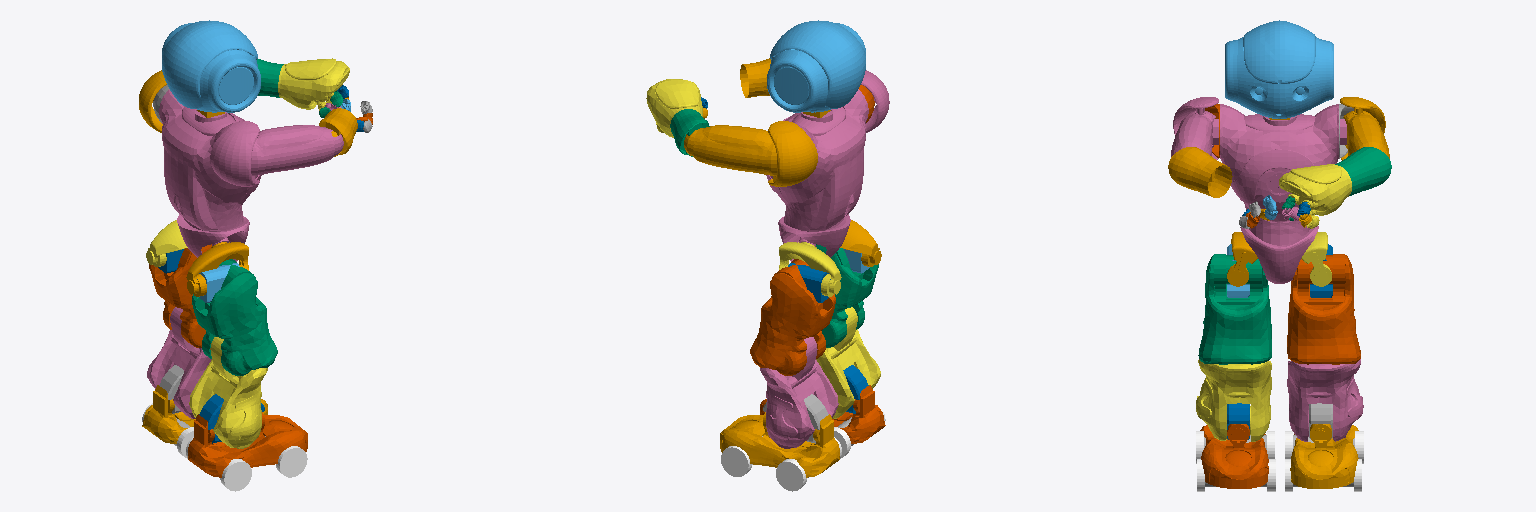
--- What the picture shows (computed from the rendered views, not written in the file) ---
Views: 3 orthographic renders of the robot side by side, from view 1: azimuth 30°, elevation 25°; view 2: azimuth 150°, elevation 25°; view 3: azimuth 270°, elevation 25°.
Model nao with 95 links and 94 joints (26 revolute, 8 continuous, 60 fixed), rooted at base_link, posed joints at zero except 2 at the middle of their limits (LElbowRoll = -0.7898, RElbowRoll = 0.7898).
Links seen in each view (by area): view 1: torso, Head, RBicep, RThigh, RTibia, r_ankle, l_wrist, LTibia, LThigh, l_ankle, RPelvis, LPelvis (+7 smaller); view 2: torso, Head, LBicep, LThigh, LTibia, l_ankle, RTibia, RThigh, l_wrist, r_ankle, LPelvis, RPelvis (+7 smaller); view 3: torso, Head, LThigh, RThigh, RTibia, LTibia, r_ankle, l_ankle, l_wrist, RForeArm, LBicep, RBicep (+3 smaller).
Boxes of the visible links, x1,y1,x2,y2 form: torso: (159, 89, 261, 261); Head: (162, 20, 260, 112); RBicep: (210, 121, 343, 186); RThigh: (192, 259, 277, 375); RTibia: (189, 337, 267, 448); r_ankle: (188, 412, 307, 477); l_wrist: (278, 58, 349, 109); LTibia: (147, 307, 211, 418); LThigh: (149, 244, 211, 347); l_ankle: (142, 385, 267, 443); RPelvis: (186, 242, 248, 296); LPelvis: (146, 220, 187, 266); torso: (766, 89, 868, 261); Head: (767, 20, 865, 112); LBicep: (684, 121, 817, 186); LThigh: (750, 259, 835, 375); LTibia: (760, 337, 838, 448); l_ankle: (720, 412, 839, 477); RTibia: (816, 307, 880, 418); RThigh: (816, 244, 878, 347); l_wrist: (646, 79, 702, 137); r_ankle: (760, 385, 885, 443); LPelvis: (779, 242, 841, 296); RPelvis: (840, 220, 881, 266); torso: (1212, 104, 1346, 283); Head: (1225, 20, 1333, 118); LThigh: (1287, 254, 1360, 364); RThigh: (1198, 254, 1271, 364); RTibia: (1196, 359, 1271, 441); LTibia: (1287, 359, 1363, 441); r_ankle: (1200, 424, 1268, 488); l_ankle: (1290, 424, 1358, 488); l_wrist: (1279, 164, 1351, 215); RForeArm: (1168, 147, 1232, 197); LBicep: (1340, 97, 1389, 160); RBicep: (1171, 97, 1218, 159).
Bounding box of the posed robot: 0.2792 × 0.2719 × 0.594 m (x, y, z).
38 mesh visuals loaded from 39 distinct referenced files (38 Collada DAE); not drawn: 1 (reference not matched to a file when rendering).

URDF robot description (nao):
<?xml version="1.0" encoding="utf-8" ?>
<!-- =================================================================================== -->
<!-- |    This document was autogenerated by xacro from nao_robot.xacro                | -->
<!-- |    EDITING THIS FILE BY HAND IS NOT RECOMMENDED                                 | -->
<!-- =================================================================================== -->
<!--******************************************************************
 ****** File automatically generated by generate_urdf.py script ******
 *********************************************************************-->
<robot name="nao">
    <joint name="HeadYaw" type="revolute">
        <parent link="torso" />
        <child link="Neck" />
        <origin rpy="0 0 0" xyz="0 0 0.1265" />
        <axis xyz="0 0 1.0" />
        <limit effort="1.547" lower="-2.08567" upper="2.08567" velocity="8.26797" />
    </joint>
    <link name="Neck">
        
<inertial>
            <mass value="0.06442" />
            <inertia ixx="2.65584e-05" ixy="1.57e-09" ixz="0" iyy="2.75654e-05" iyz="-5.295e-08" izz="5.53372e-06" />
            <origin rpy="0 0 0" xyz="-1e-05 0 -0.02742" />
        </inertial>

        <visual>
            <geometry>
                <mesh filename="package://nao_description/nao_meshes/meshes/V40/HeadYaw.dae" scale="0.1 0.1 0.1" />
            </geometry>
            <origin rpy="0 0 0" xyz="0 0 0" />
        </visual>
        <collision>
            <geometry>
                <mesh filename="package://nao_description/nao_meshes/meshes/V40/HeadYaw_0.10.stl" scale="0.1 0.1 0.1" />
            </geometry>
            <origin rpy="0 0 0" xyz="0 0 0" />
        </collision>
    </link>
    <joint name="HeadPitch" type="revolute">
        <parent link="Neck" />
        <child link="Head" />
        <origin rpy="0 0 0" xyz="0 0 0" />
        <axis xyz="0 1.0 0" />
        <limit effort="1.532" lower="-0.671952" upper="0.514872" velocity="7.19407" />
    </joint>
    <link name="Head">
        
<inertial>
            <mass value="0.60533" />
            <inertia ixx="0.000957766" ixy="8.78814e-06" ixz="5.33702e-06" iyy="0.000816836" iyz="-2.99579e-05" izz="0.000984976" />
            <origin rpy="0 0 0" xyz="-0.00112 0 0.05258" />
        </inertial>

        <visual>
            <geometry>
                <mesh filename="package://nao_description/nao_meshes/meshes/V40/HeadPitch.dae" scale="0.1 0.1 0.1" />
            </geometry>
            <origin rpy="0 0 0" xyz="0 0 0" />
        </visual>
        <collision>
            <geometry>
                <mesh filename="package://nao_description/nao_meshes/meshes/V40/HeadPitch_0.10.stl" scale="0.1 0.1 0.1" />
            </geometry>
            <origin rpy="0 0 0" xyz="0 0 0" />
        </collision>
    </link>
    <joint name="gaze_joint" type="fixed">
        <parent link="Head" />
        <child link="gaze" />
        <origin rpy="0 0 0" xyz="0.05871 0 0.06364" />
    </joint>
    <link name="gaze" />
    <joint name="LHipYawPitch" type="revolute">
        <parent link="torso" />
        <child link="LPelvis" />
        <origin rpy="0 0 0" xyz="0 0.05 -0.085" />
        <axis xyz="0 0.707106 -0.707106" />
        <limit effort="3.348" lower="-1.14529" upper="0.740718" velocity="4.16174" />
    </joint>
    <link name="LPelvis">
        
<inertial>
            <mass value="0.06981" />
            <inertia ixx="2.3407e-05" ixy="1.07922e-06" ixz="-1.76003e-06" iyy="4.76355e-05" iyz="2.76058e-06" izz="4.97021e-05" />
            <origin rpy="0 0 0" xyz="-0.00781 -0.01114 0.02661" />
        </inertial>

        <visual>
            <geometry>
                <mesh filename="package://nao_description/nao_meshes/meshes/V40/LHipYawPitch.dae" scale="0.1 0.1 0.1" />
            </geometry>
            <origin rpy="0 0 0" xyz="0 0 0" />
        </visual>
        <collision>
            <geometry>
                <mesh filename="package://nao_description/nao_meshes/meshes/V40/LHipYawPitch_0.10.stl" scale="0.1 0.1 0.1" />
            </geometry>
            <origin rpy="0 0 0" xyz="0 0 0" />
        </collision>
    </link>
    <joint name="LHipRoll" type="revolute">
        <parent link="LPelvis" />
        <child link="LHip" />
        <origin rpy="0 0 0" xyz="0 0 0" />
        <axis xyz="1.0 0 0" />
        <limit effort="3.348" lower="-0.379435" upper="0.79046" velocity="4.16174" />
    </joint>
    <link name="LHip">
        
<inertial>
            <mass value="0.13053" />
            <inertia ixx="2.41106e-05" ixy="-6.08684e-07" ixz="6.33119e-06" iyy="6.34892e-05" iyz="-1.99137e-07" izz="5.67694e-05" />
            <origin rpy="0 0 0" xyz="-0.01549 0.00029 -0.00515" />
        </inertial>

        <visual>
            <geometry>
                <mesh filename="package://nao_description/nao_meshes/meshes/V40/LHipRoll.dae" scale="0.1 0.1 0.1" />
            </geometry>
            <origin rpy="0 0 0" xyz="0 0 0" />
        </visual>
        <collision>
            <geometry>
                <mesh filename="package://nao_description/nao_meshes/meshes/V40/LHipRoll_0.10.stl" scale="0.1 0.1 0.1" />
            </geometry>
            <origin rpy="0 0 0" xyz="0 0 0" />
        </collision>
    </link>
    <joint name="LHipPitch" type="revolute">
        <parent link="LHip" />
        <child link="LThigh" />
        <origin rpy="0 0 0" xyz="0 0 0" />
        <axis xyz="0 1.0 0" />
        <limit effort="3.023" lower="-1.53589" upper="0.48398" velocity="6.40239" />
    </joint>
    <link name="LThigh">
        
<inertial>
            <mass value="0.38968" />
            <inertia ixx="0.000509844" ixy="2.11296e-06" ixz="5.64129e-05" iyy="0.000465358" iyz="-7.91029e-06" izz="0.000301098" />
            <origin rpy="0 0 0" xyz="0.00138 0.00221 -0.05373" />
        </inertial>

        <visual>
            <geometry>
                <mesh filename="package://nao_description/nao_meshes/meshes/V40/LHipPitch.dae" scale="0.1 0.1 0.1" />
            </geometry>
            <origin rpy="0 0 0" xyz="0 0 0" />
        </visual>
        <collision>
            <geometry>
                <mesh filename="package://nao_description/nao_meshes/meshes/V40/LHipPitch_0.10.stl" scale="0.1 0.1 0.1" />
            </geometry>
            <origin rpy="0 0 0" xyz="0 0 0" />
        </collision>
    </link>
    <joint name="LKneePitch" type="revolute">
        <parent link="LThigh" />
        <child link="LTibia" />
        <origin rpy="0 0 0" xyz="0 0 -0.1" />
        <axis xyz="0 1.0 0" />
        <limit effort="3.023" lower="-0.0923279" upper="2.11255" velocity="6.40239" />
    </joint>
    <link name="LTibia">
        
<inertial>
            <mass value="0.29142" />
            <inertia ixx="0.000470586" ixy="3.60392e-06" ixz="-2.86648e-05" iyy="0.000412654" iyz="7.13013e-06" izz="0.000185772" />
            <origin rpy="0 0 0" xyz="0.00453 0.00225 -0.04936" />
        </inertial>

        <visual>
            <geometry>
                <mesh filename="package://nao_description/nao_meshes/meshes/V40/LKneePitch.dae" scale="0.1 0.1 0.1" />
            </geometry>
            <origin rpy="0 0 0" xyz="0 0 0" />
        </visual>
        <collision>
            <geometry>
                <mesh filename="package://nao_description/nao_meshes/meshes/V40/LKneePitch_0.10.stl" scale="0.1 0.1 0.1" />
            </geometry>
            <origin rpy="0 0 0" xyz="0 0 0" />
        </collision>
    </link>
    <joint name="LAnklePitch" type="revolute">
        <parent link="LTibia" />
        <child link="LAnklePitch" />
        <origin rpy="0 0 0" xyz="0 0 -0.1029" />
        <axis xyz="0 1.0 0" />
        <limit effort="3.023" lower="-1.18944" upper="0.922581" velocity="6.40239" />
    </joint>
    <link name="LAnklePitch">
        
<inertial>
            <mass value="0.13416" />
            <inertia ixx="3.22034e-05" ixy="-8.83212e-09" ixz="4.27549e-06" iyy="6.7943e-05" iyz="2.84849e-07" izz="5.48269e-05" />
            <origin rpy="0 0 0" xyz="0.00045 0.00029 0.00685" />
        </inertial>

        <visual>
            <geometry>
                <mesh filename="package://nao_description/nao_meshes/meshes/V40/LAnklePitch.dae" scale="0.1 0.1 0.1" />
            </geometry>
            <origin rpy="0 0 0" xyz="0 0 0" />
        </visual>
        <collision>
            <geometry>
                <mesh filename="package://nao_description/nao_meshes/meshes/V40/LAnklePitch_0.10.stl" scale="0.1 0.1 0.1" />
            </geometry>
            <origin rpy="0 0 0" xyz="0 0 0" />
        </collision>
    </link>
    <joint name="LAnkleRoll" type="revolute">
        <parent link="LAnklePitch" />
        <child link="l_ankle" />
        <origin rpy="0 0 0" xyz="0 0 0" />
        <axis xyz="1.0 0 0" />
        <limit effort="3.348" lower="-0.397761" upper="0.768992" velocity="4.16174" />
    </joint>
    <link name="l_ankle">
        
<inertial>
            <mass value="0.16184" />
            <inertia ixx="9.78911e-05" ixy="7.88039e-06" ixz="6.1279e-06" iyy="0.000369977" iyz="1.44233e-06" izz="0.000419417" />
            <origin rpy="0 0 0" xyz="0.02542 0.0033 -0.03239" />
        </inertial>

        <visual>
            <geometry>
                <mesh filename="package://nao_description/nao_meshes/meshes/V40/LAnkleRoll.dae" scale="0.1 0.1 0.1" />
            </geometry>
            <origin rpy="0 0 0" xyz="0 0 0" />
        </visual>
        <collision>
            <geometry>
                <mesh filename="package://nao_description/nao_meshes/meshes/V40/LAnkleRoll_0.10.stl" scale="0.1 0.1 0.1" />
            </geometry>
            <origin rpy="0 0 0" xyz="0 0 0" />
        </collision>
    </link>
    <joint name="LLeg_effector_fixedjoint" type="fixed">
        <parent link="l_ankle" />
        <child link="l_sole" />
        <origin rpy="0 0 0" xyz="0 0 -0.04511" />
        <axis xyz="0 0 0" />
    </joint>
    <link name="l_sole" />
    <joint name="base_left_motor_joint" type="fixed">
        <origin xyz="-0.02 0 0" rpy="0 0 0" />
        <parent link="l_sole" />
        <child link="left_motor" />
    </joint>
    <link name="left_motor">
        
<inertial>
            <origin xyz="0.0 0 0" />
            <mass value="0.1" />
            <inertia ixx="0.001" ixy="0.0" ixz="0.0" iyy="0.001" iyz="0.0" izz="0.001" />
        </inertial>

        <visual>
            <origin xyz="0 0.005 0" rpy="1.5707 0 0" />
            <geometry>
                <cylinder radius="0.015" length="0.078" />
            </geometry>
            <material name="gray">
                <color rgba="0.75 0.75 0.75 1" />
            </material>
        </visual>
        <collision>
            <origin xyz="0 0 0" rpy="1.5707 0 0" />
            <geometry>
                <cylinder radius="0.015" length="0.078" />
            </geometry>
        </collision>
    </link>
    <joint name="left_wheel_joint_r" type="continuous">
        <origin xyz="0 -0.039 0" rpy="0 0 0" />
        <parent link="left_motor" />
        <child link="left_wheel_link_r" />
        <axis xyz="0 1 0" />
    </joint>
    <link name="left_wheel_link_r">
        
<inertial>
            <origin xyz="0 0 0" />
            <mass value="0.01" />
            <inertia ixx="0.001" ixy="0.0" ixz="0.0" iyy="0.001" iyz="0.0" izz="0.001" />
        </inertial>

        <visual>
            <origin xyz="0 0 0" rpy="1.5707 0 0" />
            <geometry>
                <cylinder radius="0.02" length="0.01" />
            </geometry>
            <material name="gray">
                <color rgba="1 1 1 0.9" />
            </material>
        </visual>
        <collision>
            <origin xyz="0 0 0" rpy="1.5707 0 0" />
            <geometry>
                <cylinder radius="0.02" length="0.01" />
            </geometry>
        </collision>
    </link>
    <joint name="left_wheel_joint_l" type="continuous">
        <origin xyz="0 0.047 0" rpy="0 0 0" />
        <parent link="left_motor" />
        <child link="left_wheel_link_l" />
        <axis xyz="0 1 0" />
    </joint>
    <link name="left_wheel_link_l">
        
<inertial>
            <origin xyz="0 0 0" />
            <mass value="0.01" />
            <inertia ixx="0.001" ixy="0.0" ixz="0.0" iyy="0.001" iyz="0.0" izz="0.001" />
        </inertial>

        <visual>
            <origin xyz="0 0 0" rpy="1.5707 0 0" />
            <geometry>
                <cylinder radius="0.02" length="0.01" />
            </geometry>
            <material name="gray">
                <color rgba="1 1 1 0.9" />
            </material>
        </visual>
        <collision>
            <origin xyz="0 0 0" rpy="1.5707 0 0" />
            <geometry>
                <cylinder radius="0.02" length="0.01" />
            </geometry>
        </collision>
    </link>

    <joint name="front_left_motor_joint" type="fixed">
        <origin xyz="0.06 0 0" rpy="0 0 0" />
        <parent link="l_sole" />
        <child link="front_left_motor" />
    </joint>
    <link name="front_left_motor">
        
<inertial>
            <origin xyz="0.0 0 0" />
            <mass value="0.1" />
            <inertia ixx="0.00001" ixy="0.0" ixz="0.0" iyy="0.00001" iyz="0.0" izz="0.00001" />
        </inertial>

        <visual>
            <origin xyz="0 0.003 0" rpy="1.5707 0 0" />
            <geometry>
                <cylinder radius="0.015" length="0.08" />
            </geometry>
            <material name="gray">
                <color rgba="0.75 0.75 0.75 1" />
            </material>
        </visual>
        <collision>
            <origin xyz="0 0 0" rpy="1.5707 0 0" />
            <geometry>
                <cylinder radius="0.015" length="0.078" />
            </geometry>
        </collision>
    </link>
    <joint name="front_left_wheel_joint_r" type="continuous">
        <origin xyz="0 -0.039 0" rpy="0 0 0" />
        <parent link="front_left_motor" />
        <child link="front_left_wheel_link_r" />
        <axis xyz="0 1 0" />
    </joint>
    <link name="front_left_wheel_link_r">
        
<inertial>
            <origin xyz="0 0 0" />
            <mass value="0.01" />
            <inertia ixx="0.001" ixy="0.0" ixz="0.0" iyy="0.001" iyz="0.0" izz="0.001" />
        </inertial>

        <visual>
            <origin xyz="0 0 0" rpy="1.5707 0 0" />
            <geometry>
                <cylinder radius="0.02" length="0.01" />
            </geometry>
            <material name="gray">
                <color rgba="1 1 1 0.9" />
            </material>
        </visual>
        <collision>
            <origin xyz="0 0 0" rpy="1.5707 0 0" />
            <geometry>
                <cylinder radius="0.02" length="0.01" />
            </geometry>
        </collision>
    </link>
    <joint name="front_left_wheel_joint_l" type="continuous">
        <origin xyz="0 0.045 0" rpy="0 0 0" />
        <parent link="front_left_motor" />
        <child link="front_left_wheel_link_l" />
        <axis xyz="0 1 0" />
    </joint>
    <link name="front_left_wheel_link_l">
        
<inertial>
            <origin xyz="0 0 0" />
            <mass value="0.01" />
            <inertia ixx="0.00001" ixy="0.0" ixz="0.0" iyy="0.00001" iyz="0.0" izz="0.00001" />
        </inertial>

        <visual>
            <origin xyz="0 0 0" rpy="1.5707 0 0" />
            <geometry>
                <cylinder radius="0.02" length="0.01" />
            </geometry>
            <material name="gray">
                <color rgba="1 1 1 0.9" />
            </material>
        </visual>
        <collision>
            <origin xyz="0 0 0" rpy="1.5707 0 0" />
            <geometry>
                <cylinder radius="0.02" length="0.01" />
            </geometry>
        </collision>
    </link>
    <joint name="RHipYawPitch" type="revolute">
        <parent link="torso" />
        <child link="RPelvis" />
        <origin rpy="0 0 0" xyz="0 -0.05 -0.085" />
        <axis xyz="0 0.707106 0.707106" />
        <limit effort="3.348" lower="-1.14529" upper="0.740718" velocity="4.16174" />
        <mimic joint="LHipYawPitch" multiplier="1.0" offset="0" />
    </joint>
    <link name="RPelvis">
        
<inertial>
            <mass value="0.06981" />
            <inertia ixx="3.18766e-05" ixy="-1.07152e-06" ixz="-1.77295e-06" iyy="5.18361e-05" iyz="-7.00664e-06" izz="5.39657e-05" />
            <origin rpy="0 0 0" xyz="-0.00781 0.01114 0.02661" />
        </inertial>

        <visual>
            <geometry>
                <mesh filename="package://nao_description/nao_meshes/meshes/V40/RHipYawPitch.dae" scale="0.1 0.1 0.1" />
            </geometry>
            <origin rpy="0 0 0" xyz="0 0 0" />
        </visual>
        <collision>
            <geometry>
                <mesh filename="package://nao_description/nao_meshes/meshes/V40/RHipYawPitch_0.10.stl" scale="0.1 0.1 0.1" />
            </geometry>
            <origin rpy="0 0 0" xyz="0 0 0" />
        </collision>
    </link>
    <joint name="RHipRoll" type="revolute">
        <parent link="RPelvis" />
        <child link="RHip" />
        <origin rpy="0 0 0" xyz="0 0 0" />
        <axis xyz="1.0 0 0" />
        <limit effort="3.348" lower="-0.79046" upper="0.379435" velocity="4.16174" />
    </joint>
    <link name="RHip">
        
<inertial>
            <mass value="0.13053" />
            <inertia ixx="2.41136e-05" ixy="5.67164e-07" ixz="6.30461e-06" iyy="6.34886e-05" iyz="1.97457e-07" izz="5.6773e-05" />
            <origin rpy="0 0 0" xyz="-0.01549 -0.00029 -0.00515" />
        </inertial>

        <visual>
            <geometry>
                <mesh filename="package://nao_description/nao_meshes/meshes/V40/RHipRoll.dae" scale="0.1 0.1 0.1" />
            </geometry>
            <origin rpy="0 0 0" xyz="0 0 0" />
        </visual>
        <collision>
            <geometry>
                <mesh filename="package://nao_description/nao_meshes/meshes/V40/RHipRoll_0.10.stl" scale="0.1 0.1 0.1" />
            </geometry>
            <origin rpy="0 0 0" xyz="0 0 0" />
        </collision>
    </link>
    <joint name="RHipPitch" type="revolute">
        <parent link="RHip" />
        <child link="RThigh" />
        <origin rpy="0 0 0" xyz="0 0 0" />
        <axis xyz="0 1.0 0" />
        <limit effort="3.0226" lower="-1.53589" upper="0.48398" velocity="6.40239" />
    </joint>
    <link name="RThigh">
        
<inertial>
            <mass value="0.38968" />
            <inertia ixx="0.000510607" ixy="-2.02799e-06" ixz="5.69893e-05" iyy="0.0004665" iyz="7.09563e-06" izz="0.000301333" />
            <origin rpy="0 0 0" xyz="0.00138 -0.00221 -0.05373" />
        </inertial>

        <visual>
            <geometry>
                <mesh filename="package://nao_description/nao_meshes/meshes/V40/RHipPitch.dae" scale="0.1 0.1 0.1" />
            </geometry>
            <origin rpy="0 0 0" xyz="0 0 0" />
        </visual>
        <collision>
            <geometry>
                <mesh filename="package://nao_description/nao_meshes/meshes/V40/RHipPitch_0.10.stl" scale="0.1 0.1 0.1" />
            </geometry>
            <origin rpy="0 0 0" xyz="0 0 0" />
        </collision>
    </link>
    <joint name="RKneePitch" type="revolute">
        <parent link="RThigh" />
        <child link="RTibia" />
        <origin rpy="0 0 0" xyz="0 0 -0.1" />
        <axis xyz="0 1.0 0" />
        <limit effort="3.0226" lower="-0.0923279" upper="2.11255" velocity="6.40239" />
    </joint>
    <link name="RTibia">
        
<inertial>
            <mass value="0.29142" />
            <inertia ixx="0.000471336" ixy="-3.8668e-06" ixz="-3.71648e-05" iyy="0.00041228" iyz="-6.11093e-06" izz="0.000183997" />
            <origin rpy="0 0 0" xyz="0.00453 -0.00225 -0.04936" />
        </inertial>

        <visual>
            <geometry>
                <mesh filename="package://nao_description/nao_meshes/meshes/V40/RKneePitch.dae" scale="0.1 0.1 0.1" />
            </geometry>
            <origin rpy="0 0 0" xyz="0 0 0" />
        </visual>
        <collision>
            <geometry>
                <mesh filename="package://nao_description/nao_meshes/meshes/V40/RKneePitch_0.10.stl" scale="0.1 0.1 0.1" />
            </geometry>
            <origin rpy="0 0 0" xyz="0 0 0" />
        </collision>
    </link>
    <joint name="RAnklePitch" type="revolute">
        <parent link="RTibia" />
        <child link="RAnklePitch" />
        <origin rpy="0 0 0" xyz="0 0 -0.1029" />
        <axis xyz="0 1.0 0" />
        <limit effort="3.0226" lower="-1.1863" upper="0.932006" velocity="6.40239" />
    </joint>
    <link name="RAnklePitch">
        
<inertial>
            <mass value="0.13416" />
            <inertia ixx="3.22017e-05" ixy="4.68321e-08" ixz="4.28821e-06" iyy="6.79885e-05" iyz="-2.71089e-07" izz="5.48747e-05" />
            <origin rpy="0 0 0" xyz="0.00045 -0.00029 0.00685" />
        </inertial>

        <visual>
            <geometry>
                <mesh filename="package://nao_description/nao_meshes/meshes/V40/RAnklePitch.dae" scale="0.1 0.1 0.1" />
            </geometry>
            <origin rpy="0 0 0" xyz="0 0 0" />
        </visual>
        <collision>
            <geometry>
                <mesh filename="package://nao_description/nao_meshes/meshes/V40/RAnklePitch_0.10.stl" scale="0.1 0.1 0.1" />
            </geometry>
            <origin rpy="0 0 0" xyz="0 0 0" />
        </collision>
    </link>
    <joint name="RAnkleRoll" type="revolute">
        <parent link="RAnklePitch" />
        <child link="r_ankle" />
        <origin rpy="0 0 0" xyz="0 0 0" />
        <axis xyz="1.0 0 0" />
        <limit effort="3.348" lower="-0.768992" upper="0.397761" velocity="4.16174" />
    </joint>
    <link name="r_ankle">
        
<inertial>
            <mass value="0.16184" />
            <inertia ixx="9.77513e-05" ixy="-7.70106e-06" ixz="5.88169e-06" iyy="0.000369108" iyz="-1.55058e-06" izz="0.000418695" />
            <origin rpy="0 0 0" xyz="0.02542 -0.0033 -0.03239" />
        </inertial>

        <visual>
            <geometry>
                <mesh filename="package://nao_description/nao_meshes/meshes/V40/RAnkleRoll.dae" scale="0.1 0.1 0.1" />
            </geometry>
            <origin rpy="0 0 0" xyz="0 0 0" />
        </visual>
        <collision>
            <geometry>
                <mesh filename="package://nao_description/nao_meshes/meshes/V40/RAnkleRoll_0.10.stl" scale="0.1 0.1 0.1" />
            </geometry>
            <origin rpy="0 0 0" xyz="0 0 0" />
        </collision>
    </link>
    <joint name="RLeg_effector_fixedjoint" type="fixed">
        <parent link="r_ankle" />
        <child link="r_sole" />
        <origin rpy="0 0 0" xyz="0 0 -0.04511" />
        <axis xyz="0 0 0" />
    </joint>
    <link name="r_sole" />
    <joint name="base_right_motor_joint" type="fixed">
        <origin xyz="-0.02 0 0" rpy="0 0 0" />
        <parent link="r_sole" />
        <child link="right_motor" />
    </joint>
    <link name="right_motor">
        
<inertial>
            <origin xyz="0.0 0 0" />
            <mass value="0.1" />
            <inertia ixx="0.001" ixy="0.0" ixz="0.0" iyy="0.001" iyz="0.0" izz="0.001" />
        </inertial>

        <visual>
            <origin xyz="0 -0.003 0" rpy="1.5707 0 0" />
            <geometry>
                <cylinder radius="0.015" length="0.078" />
            </geometry>
            <material name="gray">
                <color rgba="0.75 0.75 0.75 1" />
            </material>
        </visual>
        <collision>
            <origin xyz="0 0 0" rpy="1.5707 0 0" />
            <geometry>
                <cylinder radius="0.015" length="0.078" />
            </geometry>
        </collision>
    </link>
    <joint name="right_wheel_joint_r" type="continuous">
        <origin xyz="0 -0.0498 0" rpy="0 0 0" />
        <parent link="right_motor" />
        <child link="right_wheel_link_r" />
        <axis xyz="0 1 0" />
    </joint>
    <link name="right_wheel_link_r">
        
<inertial>
            <origin xyz="0 0 0" />
            <mass value="0.01" />
            <inertia ixx="0.001" ixy="0.0" ixz="0.0" iyy="0.001" iyz="0.0" izz="0.001" />
        </inertial>

        <visual>
            <origin xyz="0 0.003 0" rpy="1.5707 0 0" />
            <geometry>
                <cylinder radius="0.02" length="0.01" />
            </geometry>
            <material name="gray">
                <color rgba="1 1 1 0.9" />
            </material>
        </visual>
        <collision>
            <origin xyz="0 0 0" rpy="1.5707 0 0" />
            <geometry>
                <cylinder radius="0.02" length="0.01" />
            </geometry>
        </collision>
    </link>
    <joint name="right_wheel_joint_l" type="continuous">
        <origin xyz="0 0.039 0" rpy="0 0 0" />
        <parent link="right_motor" />
        <child link="right_wheel_link_l" />
        <axis xyz="0 1 0" />
    </joint>
    <link name="right_wheel_link_l">
        
<inertial>
            <origin xyz="0 0 0" />
            <mass value="0.01" />
            <inertia ixx="0.001" ixy="0.0" ixz="0.0" iyy="0.001" iyz="0.0" izz="0.001" />
        </inertial>

        <visual>
            <origin xyz="0 0 0" rpy="1.5707 0 0" />
            <geometry>
                <cylinder radius="0.02" length="0.01" />
            </geometry>
            <material name="gray">
                <color rgba="1 1 1 0.9" />
            </material>
        </visual>
        <collision>
            <origin xyz="0 0 0" rpy="1.5707 0 0" />
            <geometry>
                <cylinder radius="0.02" length="0.01" />
            </geometry>
        </collision>
    </link>
    <joint name="front_right_motor_joint" type="fixed">
        <origin xyz="0.06 0 0" rpy="0 0 0" />
        <parent link="r_sole" />
        <child link="front_right_motor" />
    </joint>
    <link name="front_right_motor">
        
<inertial>
            <origin xyz="0.0 0 0" />
            <mass value="0.1" />
            <inertia ixx="0.00001" ixy="0.0" ixz="0.0" iyy="0.00001" iyz="0.0" izz="0.00001" />
        </inertial>

        <visual>
            <origin xyz="0 -0.003 0" rpy="1.5707 0 0" />
            <geometry>
                <cylinder radius="0.015" length="0.08" />
            </geometry>
            <material name="gray">
                <color rgba="0.75 0.75 0.75 1" />
            </material>
        </visual>
        <collision>
            <origin xyz="0 0 0" rpy="1.5707 0 0" />
            <geometry>
                <cylinder radius="0.015" length="0.078" />
            </geometry>
        </collision>
    </link>
    <joint name="front_right_wheel_joint_r" type="continuous">
        <origin xyz="0 -0.046 0" rpy="0 0 0" />
        <parent link="front_right_motor" />
        <child link="front_right_wheel_link_r" />
        <axis xyz="0 1 0" />
    </joint>
    <link name="front_right_wheel_link_r">
        
<inertial>
            <origin xyz="0 0 0" />
            <mass value="0.01" />
            <inertia ixx="0.001" ixy="0.0" ixz="0.0" iyy="0.001" iyz="0.0" izz="0.001" />
        </inertial>

        <visual>
            <origin xyz="0 0 0" rpy="1.5707 0 0" />
            <geometry>
                <cylinder radius="0.02" length="0.01" />
            </geometry>
            <material name="gray">
                <color rgba="1 1 1 0.9" />
            </material>
        </visual>
        <collision>
            <origin xyz="0 0 0" rpy="1.5707 0 0" />
            <geometry>
                <cylinder radius="0.02" length="0.01" />
            </geometry>
        </collision>
    </link>
    <joint name="front_right_wheel_joint_l" type="continuous">
        <origin xyz="0 0.040 0" rpy="0 0 0" />
        <parent link="front_right_motor" />
        <child link="front_right_wheel_link_l" />
        <axis xyz="0 1 0" />
    </joint>
    <link name="front_right_wheel_link_l">
        
<inertial>
            <origin xyz="0 0 0" />
            <mass value="0.01" />
            <inertia ixx="0.00001" ixy="0.0" ixz="0.0" iyy="0.00001" iyz="0.0" izz="0.00001" />
        </inertial>

        <visual>
            <origin xyz="0 0 0" rpy="1.5707 0 0" />
            <geometry>
                <cylinder radius="0.02" length="0.01" />
            </geometry>
            <material name="gray">
                <color rgba="1 1 1 0.9" />
            </material>
        </visual>
        <collision>
            <origin xyz="0 0 0" rpy="1.5707 0 0" />
            <geometry>
                <cylinder radius="0.02" length="0.01" />
            </geometry>
        </collision>
    </link>
    <link name="base_link" />
    <joint name="base_link_fixedjoint" type="fixed">
        <parent link="base_link" />
        <child link="torso" />
        <origin rpy="0 0 0" xyz="0 0 0" />
        <axis xyz="0 0 0" />
    </joint>
    <link name="torso">
        
<inertial>
            <mass value="1.04956" />
            <inertia ixx="0.00308361" ixy="1.43116e-05" ixz="-3.30211e-05" iyy="0.0028835" iyz="-2.70793e-05" izz="0.0015924" />
            <origin rpy="0 0 0" xyz="-0.00413 0 0.04342" />
        </inertial>

        <visual>
            <geometry>
                <mesh filename="package://nao_description/nao_meshes/meshes/V40/Torso.dae" scale="0.1 0.1 0.1" />
            </geometry>
            <origin rpy="0 0 0" xyz="0 0 0" />
        </visual>
        <collision>
            <geometry>
                <mesh filename="package://nao_description/nao_meshes/meshes/V40/Torso_0.10.stl" scale="0.1 0.1 0.1" />
            </geometry>
            <origin rpy="0 0 0" xyz="0 0 0" />
        </collision>
    </link>
    <joint name="LShoulderPitch" type="revolute">
        <parent link="torso" />
        <child link="LShoulder" />
        <origin rpy="0 0 0" xyz="0 0.098 0.1" />
        <axis xyz="0 1.0 0" />
        <limit effort="1.329" lower="-2.08567" upper="2.08567" velocity="8.26797" />
    </joint>
    <link name="LShoulder">
        
<inertial>
            <mass value="0.07504" />
            <inertia ixx="3.10677e-05" ixy="1.2692e-06" ixz="6.04576e-09" iyy="1.39498e-05" iyz="-2.99484e-07" izz="3.30001e-05" />
            <origin rpy="0 0 0" xyz="-0.00165 -0.02663 0.00014" />
        </inertial>

        <visual>
            <geometry>
                <mesh filename="package://nao_description/nao_meshes/meshes/V40/LShoulderPitch.dae" scale="0.1 0.1 0.1" />
            </geometry>
            <origin rpy="0 0 0" xyz="0 0 0" />
        </visual>
        <collision>
            <geometry>
                <mesh filename="package://nao_description/nao_meshes/meshes/V40/LShoulderPitch_0.10.stl" scale="0.1 0.1 0.1" />
            </geometry>
            <origin rpy="0 0 0" xyz="0 0 0" />
        </collision>
    </link>
    <joint name="LShoulderRoll" type="revolute">
        <parent link="LShoulder" />
        <child link="LBicep" />
        <origin rpy="0 0 0" xyz="0 0 0" />
        <axis xyz="0 0 1.0" />
        <limit effort="1.7835" lower="-0.314159" upper="1.32645" velocity="7.19407" />
    </joint>
    <link name="LBicep">
        
<inertial>
            <mass value="0.15777" />
            <inertia ixx="8.7181e-05" ixy="-2.53381e-05" ixz="-1.4213e-05" iyy="0.000274712" iyz="4.71439e-07" izz="0.000241812" />
            <origin rpy="0 0 0" xyz="0.02455 0.00563 0.0033" />
        </inertial>

        <visual>
            <geometry>
                <mesh filename="package://nao_description/nao_meshes/meshes/V40/LShoulderRoll.dae" scale="0.1 0.1 0.1" />
            </geometry>
            <origin rpy="0 0 0" xyz="0 0 0" />
        </visual>
        <collision>
            <geometry>
                <mesh filename="package://nao_description/nao_meshes/meshes/V40/LShoulderRoll_0.10.stl" scale="0.1 0.1 0.1" />
            </geometry>
            <origin rpy="0 0 0" xyz="0 0 0" />
        </collision>
    </link>
    <joint name="LElbowYaw" type="revolute">
        <parent link="LBicep" />
        <child link="LElbow" />
        <origin rpy="0 0 0" xyz="0.105 0.015 0" />
        <axis xyz="1.0 0 0" />
        <limit effort="1.547" lower="-2.08567" upper="2.08567" velocity="8.26797" />
    </joint>
    <link name="LElbow">
        
<inertial>
            <mass value="0.06483" />
            <inertia ixx="5.59588e-06" ixy="4.21e-09" ixz="2.92241e-07" iyy="2.66179e-05" iyz="-1.84e-09" izz="2.76294e-05" />
            <origin rpy="0 0 0" xyz="-0.02744 0 -0.00014" />
        </inertial>

    </link>
    <joint name="LElbowRoll" type="revolute">
        <parent link="LElbow" />
        <child link="LForeArm" />
        <origin rpy="0 0 0" xyz="0 0 0" />
        <axis xyz="0 0 1.0" />
        <limit effort="1.532" lower="-1.54462" upper="-0.0349066" velocity="7.19407" />
    </joint>
    <link name="LForeArm">
        
<inertial>
            <mass value="0.07761" />
            <inertia ixx="2.46746e-05" ixy="3.23152e-06" ixz="1.58221e-06" iyy="3.83837e-05" iyz="1.39194e-07" izz="3.59708e-05" />
            <origin rpy="0 0 0" xyz="0.02556 0.00281 0.00076" />
        </inertial>

        <visual>
            <geometry>
                <mesh filename="package://nao_description/nao_meshes/meshes/V40/LElbowRoll.dae" scale="0.1 0.1 0.1" />
            </geometry>
            <origin rpy="0 0 0" xyz="0 0 0" />
        </visual>
        <collision>
            <geometry>
                <mesh filename="package://nao_description/nao_meshes/meshes/V40/LElbowRoll_0.10.stl" scale="0.1 0.1 0.1" />
            </geometry>
            <origin rpy="0 0 0" xyz="0 0 0" />
        </collision>
    </link>
    <joint name="LWristYaw" type="revolute">
        <parent link="LForeArm" />
        <child link="l_wrist" />
        <origin rpy="0 0 0" xyz="0.05595 0 0" />
        <axis xyz="1.0 0 0" />
        <limit effort="0.4075" lower="-1.82387" upper="1.82387" velocity="24.6229" />
    </joint>
    <link name="l_wrist">
        
<inertial>
            <mass value="0.18533" />
            <inertia ixx="6.86477e-05" ixy="1.15465e-07" ixz="-2.87254e-06" iyy="0.000135756" iyz="2.67539e-06" izz="0.000133228" />
            <origin rpy="0 0 0" xyz="0.03434 -0.00088 0.00308" />
        </inertial>

        <visual>
            <geometry>
                <mesh filename="package://nao_description/nao_meshes/meshes/V40/LWristYaw.dae" scale="0.1 0.1 0.1" />
            </geometry>
            <origin rpy="0 0 0" xyz="0 0 0" />
        </visual>
        <collision>
            <geometry>
                <mesh filename="package://nao_description/nao_meshes/meshes/V40/LWristYaw_0.10.stl" scale="0.1 0.1 0.1" />
            </geometry>
            <origin rpy="0 0 0" xyz="0 0 0" />
        </collision>
    </link>
    <joint name="LHand" type="revolute">
        <parent link="l_wrist" />
        <child link="l_gripper" />
        <origin rpy="0 0 0" xyz="0.05775 0 -0.01231" />
        <axis xyz="1.0 0 0" />
        <limit effort="0.292" lower="0" upper="1.0" velocity="8.33" />
    </joint>
    <link name="l_gripper">
        
<inertial>
            <mass value="2e-06" />
            <inertia ixx="1.1e-09" ixy="0" ixz="0" iyy="1.1e-09" iyz="0" izz="1.1e-09" />
        </inertial>

    </link>
    <joint name="RShoulderPitch" type="revolute">
        <parent link="torso" />
        <child link="RShoulder" />
        <origin rpy="0 0 0" xyz="0 -0.098 0.1" />
        <axis xyz="0 1.0 0" />
        <limit effort="1.329" lower="-2.08567" upper="2.08567" velocity="8.26797" />
    </joint>
    <link name="RShoulder">
        
<inertial>
            <mass value="0.07504" />
            <inertia ixx="3.10677e-05" ixy="-1.2692e-06" ixz="6.04576e-09" iyy="1.39498e-05" iyz="2.99484e-07" izz="3.30001e-05" />
            <origin rpy="0 0 0" xyz="-0.00165 0.02663 0.00014" />
        </inertial>

        <visual>
            <geometry>
                <mesh filename="package://nao_description/nao_meshes/meshes/V40/RShoulderPitch.dae" scale="0.1 0.1 0.1" />
            </geometry>
            <origin rpy="0 0 0" xyz="0 0 0" />
        </visual>
        <collision>
            <geometry>
                <mesh filename="package://nao_description/nao_meshes/meshes/V40/RShoulderPitch_0.10.stl" scale="0.1 0.1 0.1" />
            </geometry>
            <origin rpy="0 0 0" xyz="0 0 0" />
        </collision>
    </link>
    <joint name="RShoulderRoll" type="revolute">
        <parent link="RShoulder" />
        <child link="RBicep" />
        <origin rpy="0 0 0" xyz="0 0 0" />
        <axis xyz="0 0 1.0" />
        <limit effort="1.783" lower="-1.32645" upper="0.314159" velocity="7.19407" />
    </joint>
    <link name="RBicep">
        
<inertial>
            <mass value="0.15777" />
            <inertia ixx="0.000103401" ixy="5.48849e-05" ixz="-1.32643e-05" iyy="0.00027077" iyz="9.16707e-06" izz="0.000254529" />
            <origin rpy="0 0 0" xyz="0.02455 -0.00563 0.0033" />
        </inertial>

        <visual>
            <geometry>
                <mesh filename="package://nao_description/nao_meshes/meshes/V40/RShoulderRoll.dae" scale="0.1 0.1 0.1" />
            </geometry>
            <origin rpy="0 0 0" xyz="0 0 0" />
        </visual>
        <collision>
            <geometry>
                <mesh filename="package://nao_description/nao_meshes/meshes/V40/RShoulderRoll_0.10.stl" scale="0.1 0.1 0.1" />
            </geometry>
            <origin rpy="0 0 0" xyz="0 0 0" />
        </collision>
    </link>
    <joint name="RElbowYaw" type="revolute">
        <parent link="RBicep" />
        <child link="RElbow" />
        <origin rpy="0 0 0" xyz="0.105 -0.015 0" />
        <axis xyz="1.0 0 0" />
        <limit effort="1.547" lower="-2.08567" upper="2.08567" velocity="8.26797" />
    </joint>
    <link name="RElbow">
        
<inertial>
            <mass value="0.06483" />
            <inertia ixx="5.59588e-06" ixy="4.21e-09" ixz="2.92241e-07" iyy="2.66179e-05" iyz="-1.84e-09" izz="2.76294e-05" />
            <origin rpy="0 0 0" xyz="-0.02744 0 -0.00014" />
        </inertial>

    </link>
    <joint name="RElbowRoll" type="revolute">
        <parent link="RElbow" />
        <child link="RForeArm" />
        <origin rpy="0 0 0" xyz="0 0 0" />
        <axis xyz="0 0 1.0" />
        <limit effort="1.532" lower="0.0349066" upper="1.54462" velocity="7.19407" />
    </joint>
    <link name="RForeArm">
        
<inertial>
            <mass value="0.07761" />
            <inertia ixx="2.47331e-05" ixy="-3.2418e-06" ixz="9.06451e-07" iyy="3.84719e-05" iyz="-1.38804e-07" izz="3.59319e-05" />
            <origin rpy="0 0 0" xyz="0.02556 -0.00281 0.00076" />
        </inertial>

        <visual>
            <geometry>
                <mesh filename="package://nao_description/nao_meshes/meshes/V40/RElbowRoll.dae" scale="0.1 0.1 0.1" />
            </geometry>
            <origin rpy="0 0 0" xyz="0 0 0" />
        </visual>
        <collision>
            <geometry>
                <mesh filename="package://nao_description/nao_meshes/meshes/V40/RElbowRoll_0.10.stl" scale="0.1 0.1 0.1" />
            </geometry>
            <origin rpy="0 0 0" xyz="0 0 0" />
        </collision>
    </link>
    <joint name="RWristYaw" type="revolute">
        <parent link="RForeArm" />
        <child link="r_wrist" />
        <origin rpy="0 0 0" xyz="0.05595 0 0" />
        <axis xyz="1.0 0 0" />
        <limit effort="0.4075" lower="-1.82387" upper="1.82387" velocity="24.6229" />
    </joint>
    <link name="r_wrist">
        
<inertial>
            <mass value="0.18533" />
            <inertia ixx="6.86477e-05" ixy="1.13165e-05" ixz="-2.87254e-06" iyy="0.000135756" iyz="3.68003e-06" izz="0.000133228" />
            <origin rpy="0 0 0" xyz="0.03434 0.00088 0.00308" />
        </inertial>

        <visual>
            <geometry>
                <mesh filename="package://nao_description/nao_meshes/meshes/V40/RWristYaw.dae" scale="0.1 0.1 0.1" />
            </geometry>
            <origin rpy="0 0 0" xyz="0 0 0" />
        </visual>
        <collision>
            <geometry>
                <mesh filename="package://nao_description/nao_meshes/meshes/V40/RWristYaw_0.10.stl" scale="0.1 0.1 0.1" />
            </geometry>
            <origin rpy="0 0 0" xyz="0 0 0" />
        </collision>
    </link>
    <joint name="RHand" type="revolute">
        <parent link="r_wrist" />
        <child link="r_gripper" />
        <origin rpy="0 0 0" xyz="0.05775 0 -0.01231" />
        <axis xyz="1.0 0 0" />
        <limit effort="0.292" lower="0" upper="1.0" velocity="8.33" />
    </joint>
    <link name="r_gripper">
        
<inertial>
            <mass value="2e-06" />
            <inertia ixx="1.1e-09" ixy="0" ixz="0" iyy="1.1e-09" iyz="0" izz="1.1e-09" />
        </inertial>

    </link>
    <link name="LFootBumperRight_frame" />
    <joint name="LFoot/Bumper/Right_sensor_fixedjoint" type="fixed">
        <parent link="l_ankle" />
        <child link="LFootBumperRight_frame" />
        <origin rpy="0 0 0" xyz="0.0876 -0.014 -0.0353" />
        <axis xyz="0 0 0" />
    </joint>
    <link name="RFsrRL_frame">
        <collision>
            <geometry>
                <box size="0.01 0.01 0.005" />
            </geometry>
            <origin rpy="0 0 0" xyz="0 0 0" />
        </collision>
        
<inertial>
            <mass value="2e-06" />
            <inertia ixx="1.1e-09" ixy="0" ixz="0" iyy="1.1e-09" iyz="0" izz="1.1e-09" />
        </inertial>

    </link>
    <joint name="RFoot/FSR/RearLeft_sensor_fixedjoint" type="fixed">
        <parent link="r_ankle" />
        <child link="RFsrRL_frame" />
        <origin rpy="0 0 0" xyz="-0.03025 0.0191 -0.04511" />
        <axis xyz="0 0 0" />
    </joint>
    <link name="CameraBottom_optical_frame" />
    <joint name="CameraBottom_optical_frame_fixedjoint" type="fixed">
        <parent link="CameraBottom_frame" />
        <child link="CameraBottom_optical_frame" />
        <origin rpy="-1.57079632679 0 -1.57079632679" xyz="0 0 0" />
    </joint>
    <link name="RFsrRR_frame">
        <collision>
            <geometry>
                <box size="0.01 0.01 0.005" />
            </geometry>
            <origin rpy="0 0 0" xyz="0 0 0" />
        </collision>
        
<inertial>
            <mass value="2e-06" />
            <inertia ixx="1.1e-09" ixy="0" ixz="0" iyy="1.1e-09" iyz="0" izz="1.1e-09" />
        </inertial>

    </link>
    <joint name="RFoot/FSR/RearRight_sensor_fixedjoint" type="fixed">
        <parent link="r_ankle" />
        <child link="RFsrRR_frame" />
        <origin rpy="0 0 0" xyz="-0.02965 -0.0299 -0.04511" />
        <axis xyz="0 0 0" />
    </joint>
    <link name="LFsrFR_frame">
        <collision>
            <geometry>
                <box size="0.01 0.01 0.005" />
            </geometry>
            <origin rpy="0 0 0" xyz="0 0 0" />
        </collision>
        
<inertial>
            <mass value="2e-06" />
            <inertia ixx="1.1e-09" ixy="0" ixz="0" iyy="1.1e-09" iyz="0" izz="1.1e-09" />
        </inertial>

    </link>
    <joint name="LFoot/FSR/FrontRight_sensor_fixedjoint" type="fixed">
        <parent link="l_ankle" />
        <child link="LFsrFR_frame" />
        <origin rpy="0 0 0" xyz="0.07025 -0.0231 -0.04511" />
        <axis xyz="0 0 0" />
    </joint>
    <link name="LHandTouchBack_frame" />
    <joint name="LHand/Touch/Back_sensor_fixedjoint" type="fixed">
        <parent link="l_wrist" />
        <child link="LHandTouchBack_frame" />
        <origin rpy="3.14159 -1.5708 3.14159" xyz="0.038 0 0.025" />
        <axis xyz="0 0 0" />
    </joint>
    <link name="LHandTouchLeft_frame" />
    <joint name="LHand/Touch/Left_sensor_fixedjoint" type="fixed">
        <parent link="l_wrist" />
        <child link="LHandTouchLeft_frame" />
        <origin rpy="0 0 1.5708" xyz="0.032 0.025 0.003" />
        <axis xyz="0 0 0" />
    </joint>
    <link name="RFootBumperRight_frame" />
    <joint name="RFoot/Bumper/Right_sensor_fixedjoint" type="fixed">
        <parent link="r_ankle" />
        <child link="RFootBumperRight_frame" />
        <origin rpy="0 0 0" xyz="0.0876 -0.019 -0.0353" />
        <axis xyz="0 0 0" />
    </joint>
    <link name="RFsrFR_frame">
        <collision>
            <geometry>
                <box size="0.01 0.01 0.005" />
            </geometry>
            <origin rpy="0 0 0" xyz="0 0 0" />
        </collision>
        
<inertial>
            <mass value="2e-06" />
            <inertia ixx="1.1e-09" ixy="0" ixz="0" iyy="1.1e-09" iyz="0" izz="1.1e-09" />
        </inertial>

    </link>
    <joint name="RFoot/FSR/FrontRight_sensor_fixedjoint" type="fixed">
        <parent link="r_ankle" />
        <child link="RFsrFR_frame" />
        <origin rpy="0 0 0" xyz="0.07025 -0.0299 -0.04511" />
        <axis xyz="0 0 0" />
    </joint>
    <link name="MicroSurroundLeft_frame" />
    <joint name="MicroLeft_sensor_fixedjoint" type="fixed">
        <parent link="Head" />
        <child link="MicroSurroundLeft_frame" />
        <origin rpy="0 0 0" xyz="-0.0195 0.0606 0.0331" />
        <axis xyz="0 0 0" />
    </joint>
    <link name="LFsrRR_frame">
        <collision>
            <geometry>
                <box size="0.01 0.01 0.005" />
            </geometry>
            <origin rpy="0 0 0" xyz="0 0 0" />
        </collision>
        
<inertial>
            <mass value="2e-06" />
            <inertia ixx="1.1e-09" ixy="0" ixz="0" iyy="1.1e-09" iyz="0" izz="1.1e-09" />
        </inertial>

    </link>
    <joint name="LFoot/FSR/RearRight_sensor_fixedjoint" type="fixed">
        <parent link="l_ankle" />
        <child link="LFsrRR_frame" />
        <origin rpy="0 0 0" xyz="-0.02965 -0.0191 -0.04511" />
        <axis xyz="0 0 0" />
    </joint>
    <link name="MicroSurroundRight_frame" />
    <joint name="MicroRight_sensor_fixedjoint" type="fixed">
        <parent link="Head" />
        <child link="MicroSurroundRight_frame" />
        <origin rpy="0 0 0" xyz="-0.0195 -0.0606 0.0331" />
        <axis xyz="0 0 0" />
    </joint>
    <link name="ImuTorsoAccelerometer_frame" />
    <joint name="Accelerometer_sensor_fixedjoint" type="fixed">
        <parent link="torso" />
        <child link="ImuTorsoAccelerometer_frame" />
        <origin rpy="0 0 0" xyz="-0.008 0.00606 0.027" />
        <axis xyz="0 0 0" />
    </joint>
    <link name="HeadTouchFront_frame" />
    <joint name="Head/Touch/Front_sensor_fixedjoint" type="fixed">
        <parent link="Head" />
        <child link="HeadTouchFront_frame" />
        <origin rpy="0 -1.1861 0" xyz="0.0312 0 0.1014" />
        <axis xyz="0 0 0" />
    </joint>
    <link name="RFootBumperLeft_frame" />
    <joint name="RFoot/Bumper/Left_sensor_fixedjoint" type="fixed">
        <parent link="r_ankle" />
        <child link="RFootBumperLeft_frame" />
        <origin rpy="0 0 0" xyz="0.0876 0.014 -0.0353" />
        <axis xyz="0 0 0" />
    </joint>
    <link name="RSonar_frame" />
    <joint name="Sonar/Right_sensor_fixedjoint" type="fixed">
        <parent link="torso" />
        <child link="RSonar_frame" />
        <origin rpy="0.00478508 0.0436497 -0.392441" xyz="0.00558253 -0.0192068 0.0623853" />
        <axis xyz="0 0 0" />
    </joint>
    <link name="RHandTouchRight_frame" />
    <joint name="RHand/Touch/Right_sensor_fixedjoint" type="fixed">
        <parent link="r_wrist" />
        <child link="RHandTouchRight_frame" />
        <origin rpy="0 0 -1.5708" xyz="0.035 -0.025 0.0035" />
        <axis xyz="0 0 0" />
    </joint>
    <link name="RHandTouchBack_frame" />
    <joint name="RHand/Touch/Back_sensor_fixedjoint" type="fixed">
        <parent link="r_wrist" />
        <child link="RHandTouchBack_frame" />
        <origin rpy="3.14159 -1.5708 3.14159" xyz="0.038 0 0.025" />
        <axis xyz="0 0 0" />
    </joint>
    <link name="RFsrFL_frame">
        <collision>
            <geometry>
                <box size="0.01 0.01 0.005" />
            </geometry>
            <origin rpy="0 0 0" xyz="0 0 0" />
        </collision>
        
<inertial>
            <mass value="2e-06" />
            <inertia ixx="1.1e-09" ixy="0" ixz="0" iyy="1.1e-09" iyz="0" izz="1.1e-09" />
        </inertial>

    </link>
    <joint name="RFoot/FSR/FrontLeft_sensor_fixedjoint" type="fixed">
        <parent link="r_ankle" />
        <child link="RFsrFL_frame" />
        <origin rpy="0 0 0" xyz="0.07025 0.0231 -0.04511" />
        <axis xyz="0 0 0" />
    </joint>
    <link name="LSonar_frame" />
    <joint name="Sonar/Left_sensor_fixedjoint" type="fixed">
        <parent link="torso" />
        <child link="LSonar_frame" />
        <origin rpy="-0.00478508 0.0436497 0.392441" xyz="0.00558253 0.0192068 0.0623853" />
        <axis xyz="0 0 0" />
    </joint>
    <link name="LFsrFL_frame">
        <collision>
            <geometry>
                <box size="0.01 0.01 0.005" />
            </geometry>
            <origin rpy="0 0 0" xyz="0 0 0" />
        </collision>
        
<inertial>
            <mass value="2e-06" />
            <inertia ixx="1.1e-09" ixy="0" ixz="0" iyy="1.1e-09" iyz="0" izz="1.1e-09" />
        </inertial>

    </link>
    <joint name="LFoot/FSR/FrontLeft_sensor_fixedjoint" type="fixed">
        <parent link="l_ankle" />
        <child link="LFsrFL_frame" />
        <origin rpy="0 0 0" xyz="0.07025 0.0299 -0.04511" />
        <axis xyz="0 0 0" />
    </joint>
    <link name="LFsrRL_frame">
        <collision>
            <geometry>
                <box size="0.01 0.01 0.005" />
            </geometry>
            <origin rpy="0 0 0" xyz="0 0 0" />
        </collision>
        
<inertial>
            <mass value="2e-06" />
            <inertia ixx="1.1e-09" ixy="0" ixz="0" iyy="1.1e-09" iyz="0" izz="1.1e-09" />
        </inertial>

    </link>
    <joint name="LFoot/FSR/RearLeft_sensor_fixedjoint" type="fixed">
        <parent link="l_ankle" />
        <child link="LFsrRL_frame" />
        <origin rpy="0 0 0" xyz="-0.03025 0.0299 -0.04511" />
        <axis xyz="0 0 0" />
    </joint>
    <link name="RHandTouchLeft_frame" />
    <joint name="RHand/Touch/Left_sensor_fixedjoint" type="fixed">
        <parent link="r_wrist" />
        <child link="RHandTouchLeft_frame" />
        <origin rpy="0 0 1.5708" xyz="0.032 0.025 0.003" />
        <axis xyz="0 0 0" />
    </joint>
    <link name="CameraBottom_frame" />
    <joint name="CameraBottom_sensor_fixedjoint" type="fixed">
        <parent link="Head" />
        <child link="CameraBottom_frame" />
        <origin rpy="0 0.692896 0" xyz="0.05071 0 0.01774" />
        <axis xyz="0 0 0" />
    </joint>
    <link name="CameraTop_frame" />
    <joint name="CameraTop_sensor_fixedjoint" type="fixed">
        <parent link="Head" />
        <child link="CameraTop_frame" />
        <origin rpy="0 0.0209435 0" xyz="0.05871 0 0.06364" />
        <axis xyz="0 0 0" />
    </joint>
    <link name="CameraTop_optical_frame" />
    <joint name="CameraTop_optical_frame_fixedjoint" type="fixed">
        <parent link="CameraTop_frame" />
        <child link="CameraTop_optical_frame" />
        <origin rpy="-1.57079632679 0 -1.57079632679" xyz="0 0 0" />
    </joint>
    <link name="LInfraRed_frame" />
    <joint name="InfraredL_sensor_fixedjoint" type="fixed">
        <parent link="Head" />
        <child link="LInfraRed_frame" />
        <origin rpy="0 0 0" xyz="0.0441 0.0257 0.0466" />
        <axis xyz="0 0 0" />
    </joint>
    <link name="ImuTorsoGyrometer_frame" />
    <joint name="Gyrometer_sensor_fixedjoint" type="fixed">
        <parent link="torso" />
        <child link="ImuTorsoGyrometer_frame" />
        <origin rpy="0 0 0" xyz="-0.008 0.006 0.029" />
        <axis xyz="0 0 0" />
    </joint>
    <link name="MicroFrontCenter_frame" />
    <joint name="MicroFront_sensor_fixedjoint" type="fixed">
        <parent link="Head" />
        <child link="MicroFrontCenter_frame" />
        <origin rpy="0 0 0" xyz="0.041 0 0.091" />
        <axis xyz="0 0 0" />
    </joint>
    <link name="HeadTouchRear_frame" />
    <joint name="Head/Touch/Rear_sensor_fixedjoint" type="fixed">
        <parent link="Head" />
        <child link="HeadTouchRear_frame" />
        <origin rpy="3.14159 -1.33319 -3.14159" xyz="-0.0257 0 0.1045" />
        <axis xyz="0 0 0" />
    </joint>
    <link name="HeadTouchMiddle_frame" />
    <joint name="Head/Touch/Middle_sensor_fixedjoint" type="fixed">
        <parent link="Head" />
        <child link="HeadTouchMiddle_frame" />
        <origin rpy="3.14159 -1.57079 -3.14159" xyz="0.001 0 0.1099" />
        <axis xyz="0 0 0" />
    </joint>
    <link name="RInfraRed_frame" />
    <joint name="InfraredR_sensor_fixedjoint" type="fixed">
        <parent link="Head" />
        <child link="RInfraRed_frame" />
        <origin rpy="0 0 0" xyz="0.0441 -0.0257 0.0466" />
        <axis xyz="0 0 0" />
    </joint>
    <link name="ChestButton_frame" />
    <joint name="ChestBoard/Button_sensor_fixedjoint" type="fixed">
        <parent link="torso" />
        <child link="ChestButton_frame" />
        <origin rpy="0 0 0" xyz="0.049871 0.001588 0.055163" />
        <axis xyz="0 0 0" />
    </joint>
    <link name="LFootBumperLeft_frame" />
    <joint name="LFoot/Bumper/Left_sensor_fixedjoint" type="fixed">
        <parent link="l_ankle" />
        <child link="LFootBumperLeft_frame" />
        <origin rpy="0 0 0" xyz="0.0876 0.019 -0.0353" />
        <axis xyz="0 0 0" />
    </joint>
    <link name="MicroRearCenter_frame" />
    <joint name="MicroRear_sensor_fixedjoint" type="fixed">
        <parent link="Head" />
        <child link="MicroRearCenter_frame" />
        <origin rpy="0 0 0" xyz="-0.0577 0 0.0693" />
        <axis xyz="0 0 0" />
    </joint>
    <link name="LHandTouchRight_frame" />
    <joint name="LHand/Touch/Right_sensor_fixedjoint" type="fixed">
        <parent link="l_wrist" />
        <child link="LHandTouchRight_frame" />
        <origin rpy="0 0 -1.5708" xyz="0.035 -0.025 0.0035" />
        <axis xyz="0 0 0" />
    </joint>
    <link name="RFinger23_link">
        
<inertial>
            <mass value="2e-06" />
            <inertia ixx="1.1e-09" ixy="0" ixz="0" iyy="1.1e-09" iyz="0" izz="1.1e-09" />
        </inertial>

        <visual>
            <geometry>
                <mesh filename="package://nao_description/nao_meshes/meshes/V40/RFinger23.dae" scale="0.1 0.1 0.1" />
            </geometry>
            <origin rpy="0 0 0" xyz="0 0 0" />
        </visual>
        <collision>
            <geometry>
                <mesh filename="package://nao_description/nao_meshes/meshes/V40/RFinger23_0.10.stl" scale="0.1 0.1 0.1" />
            </geometry>
            <origin rpy="0 0 0" xyz="0 0 0" />
        </collision>
    </link>
    <joint name="RFinger23" type="fixed">
        <parent link="RFinger22_link" />
        <child link="RFinger23_link" />
        <origin rpy="0 0 -0.999899" xyz="0.01436 0 0" />
        <axis xyz="0 0 1.0" />
        <!--	<mimic joint="RHand" multiplier="0.999899" offset="0"/> -->
    </joint>
    <link name="RFinger13_link">
        
<inertial>
            <mass value="2e-06" />
            <inertia ixx="1.1e-09" ixy="0" ixz="0" iyy="1.1e-09" iyz="0" izz="1.1e-09" />
        </inertial>

        <visual>
            <geometry>
                <mesh filename="package://nao_description/nao_meshes/meshes/V40/RFinger13.dae" scale="0.1 0.1 0.1" />
            </geometry>
            <origin rpy="0 0 0" xyz="0 0 0" />
        </visual>
        <collision>
            <geometry>
                <mesh filename="package://nao_description/nao_meshes/meshes/V40/RFinger13_0.10.stl" scale="0.1 0.1 0.1" />
            </geometry>
            <origin rpy="0 0 0" xyz="0 0 0" />
        </collision>
    </link>
    <joint name="RFinger13" type="fixed">
        <parent link="RFinger12_link" />
        <child link="RFinger13_link" />
        <origin rpy="0 0 -0.999899" xyz="0.01436 0 0" />
        <axis xyz="0 0 1.0" />
        <!--	<mimic joint="RHand" multiplier="0.999899" offset="0"/>  -->
    </joint>
    <link name="RFinger12_link">
        
<inertial>
            <mass value="2e-06" />
            <inertia ixx="1.1e-09" ixy="0" ixz="0" iyy="1.1e-09" iyz="0" izz="1.1e-09" />
        </inertial>

        <visual>
            <geometry>
                <mesh filename="package://nao_description/nao_meshes/meshes/V40/RFinger12.dae" scale="0.1 0.1 0.1" />
            </geometry>
            <origin rpy="0 0 0" xyz="0 0 0" />
        </visual>
        <collision>
            <geometry>
                <mesh filename="package://nao_description/nao_meshes/meshes/V40/RFinger12_0.10.stl" scale="0.1 0.1 0.1" />
            </geometry>
            <origin rpy="0 0 0" xyz="0 0 0" />
        </collision>
    </link>
    <joint name="RFinger12" type="fixed">
        <parent link="RFinger11_link" />
        <child link="RFinger12_link" />
        <origin rpy="0 0 -0.999899" xyz="0.01436 0 0" />
        <axis xyz="0 0 1.0" />
        <!--	<mimic joint="RHand" multiplier="0.999899" offset="0"/> -->
    </joint>
    <link name="LFinger21_link">
        
<inertial>
            <mass value="2e-06" />
            <inertia ixx="1.1e-09" ixy="0" ixz="0" iyy="1.1e-09" iyz="0" izz="1.1e-09" />
        </inertial>

        <visual>
            <geometry>
                <mesh filename="package://nao_description/nao_meshes/meshes/V40/LFinger21.dae" scale="0.1 0.1 0.1" />
            </geometry>
            <origin rpy="0 0 0" xyz="0 0 0" />
        </visual>
        <collision>
            <geometry>
                <mesh filename="package://nao_description/nao_meshes/meshes/V40/LFinger21_0.10.stl" scale="0.1 0.1 0.1" />
            </geometry>
            <origin rpy="0 0 0" xyz="0 0 0" />
        </collision>
    </link>
    <joint name="LFinger21" type="fixed">
        <parent link="l_wrist" />
        <child link="LFinger21_link" />
        <origin rpy="1.25539 0.976662 -0.264067" xyz="0.06907 -0.01157 -0.00304" />
        <axis xyz="0 0 1.0" />
        <!--	<mimic joint="LHand" multiplier="0.999899" offset="0"/> -->
    </joint>
    <link name="LFinger13_link">
        
<inertial>
            <mass value="2e-06" />
            <inertia ixx="1.1e-09" ixy="0" ixz="0" iyy="1.1e-09" iyz="0" izz="1.1e-09" />
        </inertial>

        <visual>
            <geometry>
                <mesh filename="package://nao_description/nao_meshes/meshes/V40/LFinger13.dae" scale="0.1 0.1 0.1" />
            </geometry>
            <origin rpy="0 0 0" xyz="0 0 0" />
        </visual>
        <collision>
            <geometry>
                <mesh filename="package://nao_description/nao_meshes/meshes/V40/LFinger13_0.10.stl" scale="0.1 0.1 0.1" />
            </geometry>
            <origin rpy="0 0 0" xyz="0 0 0" />
        </collision>
    </link>
    <joint name="LFinger13" type="fixed">
        <parent link="LFinger12_link" />
        <child link="LFinger13_link" />
        <origin rpy="0 0 -0.999899" xyz="0.01436 0 0" />
        <axis xyz="0 0 1.0" />
        <!--	<mimic joint="LHand" multiplier="0.999899" offset="0"/> -->
    </joint>
    <link name="LFinger11_link">
        
<inertial>
            <mass value="2e-06" />
            <inertia ixx="1.1e-09" ixy="0" ixz="0" iyy="1.1e-09" iyz="0" izz="1.1e-09" />
        </inertial>

        <visual>
            <geometry>
                <mesh filename="package://nao_description/nao_meshes/meshes/V40/LFinger11.dae" scale="0.1 0.1 0.1" />
            </geometry>
            <origin rpy="0 0 0" xyz="0 0 0" />
        </visual>
        <collision>
            <geometry>
                <mesh filename="package://nao_description/nao_meshes/meshes/V40/LFinger11_0.10.stl" scale="0.1 0.1 0.1" />
            </geometry>
            <origin rpy="0 0 0" xyz="0 0 0" />
        </collision>
    </link>
    <joint name="LFinger11" type="fixed">
        <parent link="l_wrist" />
        <child link="LFinger11_link" />
        <origin rpy="1.8862 0.976662 0.264067" xyz="0.06907 0.01157 -0.00304" />
        <axis xyz="0 0 1.0" />
        <!--	<mimic joint="LHand" multiplier="0.999899" offset="0"/> -->
    </joint>
    <link name="RFinger22_link">
        
<inertial>
            <mass value="2e-06" />
            <inertia ixx="1.1e-09" ixy="0" ixz="0" iyy="1.1e-09" iyz="0" izz="1.1e-09" />
        </inertial>

        <visual>
            <geometry>
                <mesh filename="package://nao_description/nao_meshes/meshes/V40/RFinger22.dae" scale="0.1 0.1 0.1" />
            </geometry>
            <origin rpy="0 0 0" xyz="0 0 0" />
        </visual>
        <collision>
            <geometry>
                <mesh filename="package://nao_description/nao_meshes/meshes/V40/RFinger22_0.10.stl" scale="0.1 0.1 0.1" />
            </geometry>
            <origin rpy="0 0 0" xyz="0 0 0" />
        </collision>
    </link>
    <joint name="RFinger22" type="fixed">
        <parent link="RFinger21_link" />
        <child link="RFinger22_link" />
        <origin rpy="0 0 -0.999899" xyz="0.01436 0 0" />
        <axis xyz="0 0 1.0" />
        <!--	<mimic joint="RHand" multiplier="0.999899" offset="0"/> -->
    </joint>
    <link name="LFinger22_link">
        
<inertial>
            <mass value="2e-06" />
            <inertia ixx="1.1e-09" ixy="0" ixz="0" iyy="1.1e-09" iyz="0" izz="1.1e-09" />
        </inertial>

        <visual>
            <geometry>
                <mesh filename="package://nao_description/nao_meshes/meshes/V40/LFinger22.dae" scale="0.1 0.1 0.1" />
            </geometry>
            <origin rpy="0 0 0" xyz="0 0 0" />
        </visual>
        <collision>
            <geometry>
                <mesh filename="package://nao_description/nao_meshes/meshes/V40/LFinger22_0.10.stl" scale="0.1 0.1 0.1" />
            </geometry>
            <origin rpy="0 0 0" xyz="0 0 0" />
        </collision>
    </link>
    <joint name="LFinger22" type="fixed">
        <parent link="LFinger21_link" />
        <child link="LFinger22_link" />
        <origin rpy="0 0 -0.999899" xyz="0.01436 0 0" />
        <axis xyz="0 0 1.0" />
        <!--	<mimic joint="LHand" multiplier="0.999899" offset="0"/> -->
    </joint>
    <link name="RFinger21_link">
        
<inertial>
            <mass value="2e-06" />
            <inertia ixx="1.1e-09" ixy="0" ixz="0" iyy="1.1e-09" iyz="0" izz="1.1e-09" />
        </inertial>

        <visual>
            <geometry>
                <mesh filename="package://nao_description/nao_meshes/meshes/V40/RFinger21.dae" scale="0.1 0.1 0.1" />
            </geometry>
            <origin rpy="0 0 0" xyz="0 0 0" />
        </visual>
        <collision>
            <geometry>
                <mesh filename="package://nao_description/nao_meshes/meshes/V40/RFinger21_0.10.stl" scale="0.1 0.1 0.1" />
            </geometry>
            <origin rpy="0 0 0" xyz="0 0 0" />
        </collision>
    </link>
    <joint name="RFinger21" type="fixed">
        <parent link="r_wrist" />
        <child link="RFinger21_link" />
        <origin rpy="1.25539 0.976662 -0.264067" xyz="0.06907 -0.01157 -0.00304" />
        <axis xyz="0 0 1.0" />
        <!--	<mimic joint="RHand" multiplier="0.999899" offset="0"/> -->
    </joint>
    <link name="LFinger12_link">
        
<inertial>
            <mass value="2e-06" />
            <inertia ixx="1.1e-09" ixy="0" ixz="0" iyy="1.1e-09" iyz="0" izz="1.1e-09" />
        </inertial>

        <visual>
            <geometry>
                <mesh filename="package://nao_description/nao_meshes/meshes/V40/LFinger12.dae" scale="0.1 0.1 0.1" />
            </geometry>
            <origin rpy="0 0 0" xyz="0 0 0" />
        </visual>
        <collision>
            <geometry>
                <mesh filename="package://nao_description/nao_meshes/meshes/V40/LFinger12_0.10.stl" scale="0.1 0.1 0.1" />
            </geometry>
            <origin rpy="0 0 0" xyz="0 0 0" />
        </collision>
    </link>
    <joint name="LFinger12" type="fixed">
        <parent link="LFinger11_link" />
        <child link="LFinger12_link" />
        <origin rpy="0 0 -0.999899" xyz="0.01436 0 0" />
        <axis xyz="0 0 1.0" />
        <!--	<mimic joint="LHand" multiplier="0.999899" offset="0"/> -->
    </joint>
    <link name="RFinger11_link">
        
<inertial>
            <mass value="2e-06" />
            <inertia ixx="1.1e-09" ixy="0" ixz="0" iyy="1.1e-09" iyz="0" izz="1.1e-09" />
        </inertial>

        <visual>
            <geometry>
                <mesh filename="package://nao_description/nao_meshes/meshes/V40/RFinger11.dae" scale="0.1 0.1 0.1" />
            </geometry>
            <origin rpy="0 0 0" xyz="0 0 0" />
        </visual>
        <collision>
            <geometry>
                <mesh filename="package://nao_description/nao_meshes/meshes/V40/RFinger11_0.10.stl" scale="0.1 0.1 0.1" />
            </geometry>
            <origin rpy="0 0 0" xyz="0 0 0" />
        </collision>
    </link>
    <joint name="RFinger11" type="fixed">
        <parent link="r_wrist" />
        <child link="RFinger11_link" />
        <origin rpy="1.8862 0.976662 0.264067" xyz="0.06907 0.01157 -0.00304" />
        <axis xyz="0 0 1.0" />
        <!--	<mimic joint="RHand" multiplier="0.999899" offset="0"/> -->
    </joint>
    <link name="LFinger23_link">
        
<inertial>
            <mass value="2e-06" />
            <inertia ixx="1.1e-09" ixy="0" ixz="0" iyy="1.1e-09" iyz="0" izz="1.1e-09" />
        </inertial>

        <visual>
            <geometry>
                <mesh filename="package://nao_description/nao_meshes/meshes/V40/LFinger23.dae" scale="0.1 0.1 0.1" />
            </geometry>
            <origin rpy="0 0 0" xyz="0 0 0" />
        </visual>
        <collision>
            <geometry>
                <mesh filename="package://nao_description/nao_meshes/meshes/V40/LFinger23_0.10.stl" scale="0.1 0.1 0.1" />
            </geometry>
            <origin rpy="0 0 0" xyz="0 0 0" />
        </collision>
    </link>
    <joint name="LFinger23" type="fixed">
        <parent link="LFinger22_link" />
        <child link="LFinger23_link" />
        <origin rpy="0 0 -0.999899" xyz="0.01436 0 0" />
        <axis xyz="0 0 1.0" />
        <!--	<mimic joint="LHand" multiplier="0.999899" offset="0"/> -->
    </joint>
    <link name="LThumb1_link">
        
<inertial>
            <mass value="2e-06" />
            <inertia ixx="1.1e-09" ixy="0" ixz="0" iyy="0" iyz="0" izz="0" />
        </inertial>

        <visual>
            <geometry>
                <mesh filename="package://nao_description/nao_meshes/meshes/V40/LThumb1.dae" scale="0.1 0.1 0.1" />
            </geometry>
            <origin rpy="0 0 0" xyz="0 0 0" />
        </visual>
        <collision>
            <geometry>
                <mesh filename="package://nao_description/nao_meshes/meshes/V40/LThumb1_0.10.stl" scale="0.1 0.1 0.1" />
            </geometry>
            <origin rpy="0 0 0" xyz="0 0 0" />
        </collision>
    </link>
    <joint name="LThumb1" type="fixed">
        <parent link="l_wrist" />
        <child link="LThumb1_link" />
        <origin rpy="-1.5708 0.0472984 -3.26826e-08" xyz="0.04895 0 -0.02638" />
        <axis xyz="0 0 1.0" />
        <!--	<mimic joint="LHand" multiplier="0.999899" offset="0"/> -->
    </joint>
    <link name="RThumb1_link">
        
<inertial>
            <mass value="2e-06" />
            <inertia ixx="1.1e-09" ixy="0" ixz="0" iyy="1.1e-09" iyz="0" izz="1.1e-09" />
        </inertial>

        <visual>
            <geometry>
                <mesh filename="package://nao_description/nao_meshes/meshes/V40/RThumb1.dae" scale="0.1 0.1 0.1" />
            </geometry>
            <origin rpy="0 0 0" xyz="0 0 0" />
        </visual>
        <collision>
            <geometry>
                <mesh filename="package://nao_description/nao_meshes/meshes/V40/RThumb1_0.10.stl" scale="0.1 0.1 0.1" />
            </geometry>
            <origin rpy="0 0 0" xyz="0 0 0" />
        </collision>
    </link>
    <joint name="RThumb1" type="fixed">
        <parent link="r_wrist" />
        <child link="RThumb1_link" />
        <origin rpy="-1.5708 0.0472984 -3.26826e-08" xyz="0.04895 0 -0.02638" />
        <axis xyz="0 0 1.0" />
        <!--	<mimic joint="RHand" multiplier="0.999899" offset="0"/> -->
    </joint>
    <link name="RThumb2_link">
        
<inertial>
            <mass value="2e-06" />
            <inertia ixx="0" ixy="0" ixz="0" iyy="0" iyz="0" izz="0" />
        </inertial>

        <visual>
            <geometry>
                <mesh filename="package://nao_description/nao_meshes/meshes/V40/RThumb2.dae" scale="0.1 0.1 0.1" />
            </geometry>
            <origin rpy="0 0 0" xyz="0 0 0" />
        </visual>
        <collision>
            <geometry>
                <mesh filename="package://nao_description/nao_meshes/meshes/V40/RThumb2_0.10.stl" scale="0.1 0.1 0.1" />
            </geometry>
            <origin rpy="0 0 0" xyz="0 0 0" />
        </collision>
    </link>
    <joint name="RThumb2" type="fixed">
        <parent link="RThumb1_link" />
        <child link="RThumb2_link" />
        <origin rpy="0 0 -0.999899" xyz="0.01436 0 0" />
        <axis xyz="0 0 1.0" />
        <!--	<mimic joint="RHand" multiplier="0.999899" offset="0"/> -->
    </joint>
    <link name="LThumb2_link">
        
<inertial>
            <mass value="2e-06" />
            <inertia ixx="0" ixy="0" ixz="0" iyy="0" iyz="0" izz="0" />
        </inertial>

        <visual>
            <geometry>
                <mesh filename="package://nao_description/nao_meshes/meshes/V40/LThumb2.dae" scale="0.1 0.1 0.1" />
            </geometry>
            <origin rpy="0 0 0" xyz="0 0 0" />
        </visual>
        <collision>
            <geometry>
                <mesh filename="package://nao_description/nao_meshes/meshes/V40/LThumb2_0.10.stl" scale="0.1 0.1 0.1" />
            </geometry>
            <origin rpy="0 0 0" xyz="0 0 0" />
        </collision>
    </link>
    <joint name="LThumb2" type="fixed">
        <parent link="LThumb1_link" />
        <child link="LThumb2_link" />
        <origin rpy="0 0 -0.999899" xyz="0.01436 0 0" />
        <axis xyz="0 0 1.0" />
        <!--	<mimic joint="LHand" multiplier="0.999899" offset="0"/> -->
    </joint>
    <!-- GAZEBO ROS CONTROL AND IMU PLUGIN -->

    <gazebo>

	<plugin name="left_wheel_drive_controller" filename="/opt/ros/melodic/lib/libgazebo_ros_diff_drive.so">

            <rosDebugLevel>Debug</rosDebugLevel>
            <publishWheelTF>true</publishWheelTF>
            <broadcastTF>true</broadcastTF>
            <publishTf>true</publishTf>
            <leftJoint>front_left_wheel_joint_l</leftJoint>
            <rightJoint>front_left_wheel_joint_r</rightJoint>
            <publishWheelJointState>true</publishWheelJointState>
            <alwaysOn>true</alwaysOn>
            <updateRate>100.0</updateRate>
            <legacyMode>true</legacyMode>
            <wheelSeparation>0.3</wheelSeparation>
            <wheelDiameter>0.1</wheelDiameter>
            <wheelTorque>20</wheelTorque>
            <wheelAcceleration>1.8</wheelAcceleration>
            <commandTopic>left/cmd_vel</commandTopic>
            <robotBaseFrame>base_link</robotBaseFrame>
            <publishOdomTF>false</publishOdomTF>
            <publish_odom>false</publish_odom>
            <odometryTopic>odom</odometryTopic>
            <odometryFrame>odom</odometryFrame>
	    <odometrySource>1</odometrySource>

        </plugin>


	<plugin name="right_wheel_drive_controller" filename="/opt/ros/melodic/lib/libgazebo_ros_diff_drive.so">

            <rosDebugLevel>Debug</rosDebugLevel>
            <publishWheelTF>true</publishWheelTF>
            <broadcastTF>true</broadcastTF>
            <publishTf>true</publishTf>
            <leftJoint>front_right_wheel_joint_l</leftJoint>
            <rightJoint>front_right_wheel_joint_r</rightJoint>
            <publishWheelJointState>true</publishWheelJointState>
            <alwaysOn>true</alwaysOn>
            <updateRate>100.0</updateRate>
            <legacyMode>true</legacyMode>
            <wheelSeparation>0.3</wheelSeparation>
            <wheelDiameter>0.1</wheelDiameter>
            <wheelTorque>20</wheelTorque>
            <wheelAcceleration>1.8</wheelAcceleration>
            <commandTopic>right/cmd_vel</commandTopic>
            <robotBaseFrame>base_link</robotBaseFrame>
            <publishOdomTF>false</publishOdomTF>
            <publish_odom>false</publish_odom>
            <odometryTopic>odom</odometryTopic>
            <odometryFrame>odom</odometryFrame>
	    <odometrySource>1</odometrySource>

        </plugin>

        <plugin name="p3d_base_controller" filename="libgazebo_ros_p3d.so">
    	     <alwaysOn>true</alwaysOn>
             <updateRate>50.0</updateRate>
             <bodyName>base_link</bodyName>
             <topicName>ground_truth_pose</topicName>
             <gaussianNoise>0.01</gaussianNoise>
             <frameName>world</frameName>
             <xyzOffset>0 0 0</xyzOffset>
             <rpyOffset>0 0 0</rpyOffset>
        </plugin>

    </gazebo>

    <gazebo>
        <plugin filename="libgazebo_ros_control.so" name="gazebo_ros_control">
            <robotSimType>gazebo_ros_control/DefaultRobotHWSim</robotSimType>
        </plugin>
        <!--        <plugin filename="libgazebo_ros_imu.so" name="gazebo_ros_imu_controller">
            <robotNamespace>/nao_dcm</robotNamespace>
            <topicName>imu_data</topicName>
            <bodyName>imu</bodyName>
            <frameId>ImuAccelerometer_frame</frameId>
            <gaussianNoise>2.89e-08</gaussianNoise>
            <accelGaussianNoise>2.89e-08 2.89e-08 2.89e-08</accelGaussianNoise>
            <rateGaussianNoise>2.89e-08 2.89e-08 2.89e-08</rateGaussianNoise>
            <headingGaussianNoise>2.89e-08 2.89e-08 2.89e-08</headingGaussianNoise>
            <xyzOffsets>0 0 0</xyzOffsets>
            <rpyOffsets>0 0 0</rpyOffsets>
            <updateRate>30.0</updateRate>
            <alwaysOn>true</alwaysOn>
        </plugin>
-->
        <!--        <plugin name="gazebo_ros_imu_controller" filename="">
            <robotNamespace>/nao_dcm</robotNamespace>
            <topicName>imu_data</topicName>
            <bodyName>imu</bodyName>
            <frameId>imu</frameId>
            <gaussianNoise>2.89e-08</gaussianNoise>
            <accelGaussianNoise>2.89e-08 2.89e-08 2.89e-08</accelGaussianNoise>
            <rateGaussianNoise>2.89e-08 2.89e-08 2.89e-08</rateGaussianNoise>
            <headingGaussianNoise>2.89e-08 2.89e-08 2.89e-08</headingGaussianNoise>
            <xyzOffsets>0 0 0</xyzOffsets>
            <rpyOffsets>0 0 0</rpyOffsets>
            <updateRate>30.0</updateRate>
            <alwaysOn>true</alwaysOn>
        </plugin>
-->
        <!-- Mimic joints through plugin develop by costashatz based on implementation by Goncalo Cabrita -->
        <plugin filename="libroboticsgroup_gazebo_mimic_joint_plugin.so" name="mimic_hipyawpitch">
            <joint>LHipYawPitch</joint>
            <mimicJoint>RHipYawPitch</mimicJoint>
            <multiplier>1.0</multiplier>
            <offset>0.0</offset>
        </plugin>
        <plugin filename="libroboticsgroup_gazebo_mimic_joint_plugin.so" name="mimic_LFinger01">
            <joint>LHand</joint>
            <mimicJoint>LFinger01</mimicJoint>
            <multiplier>-0.785398163398</multiplier>
            <offset>0.785398163398</offset>
        </plugin>
        <plugin filename="libroboticsgroup_gazebo_mimic_joint_plugin.so" name="mimic_LFinger02">
            <joint>LHand</joint>
            <mimicJoint>LFinger02</mimicJoint>
            <multiplier>-0.785398163398</multiplier>
            <offset>0.785398163398</offset>
        </plugin>
        <plugin filename="libroboticsgroup_gazebo_mimic_joint_plugin.so" name="mimic_LFinger03">
            <joint>LHand</joint>
            <mimicJoint>LFinger03</mimicJoint>
            <multiplier>-0.785398163398</multiplier>
            <offset>0.785398163398</offset>
        </plugin>
        <plugin filename="libroboticsgroup_gazebo_mimic_joint_plugin.so" name="mimic_LFinger01">
            <joint>LHand</joint>
            <mimicJoint>LFinger01</mimicJoint>
            <multiplier>-0.785398163398</multiplier>
            <offset>0.785398163398</offset>
        </plugin>
        <plugin filename="libroboticsgroup_gazebo_mimic_joint_plugin.so" name="mimic_LFinger02">
            <joint>LHand</joint>
            <mimicJoint>LFinger02</mimicJoint>
            <multiplier>-0.785398163398</multiplier>
            <offset>0.785398163398</offset>
        </plugin>
        <plugin filename="libroboticsgroup_gazebo_mimic_joint_plugin.so" name="mimic_LFinger03">
            <joint>LHand</joint>
            <mimicJoint>LFinger03</mimicJoint>
            <multiplier>-0.785398163398</multiplier>
            <offset>0.785398163398</offset>
        </plugin>
        <plugin filename="libroboticsgroup_gazebo_mimic_joint_plugin.so" name="mimic_RFinger01">
            <joint>RHand</joint>
            <mimicJoint>RFinger01</mimicJoint>
            <multiplier>-0.785398163398</multiplier>
            <offset>0.785398163398</offset>
        </plugin>
        <plugin filename="libroboticsgroup_gazebo_mimic_joint_plugin.so" name="mimic_RFinger02">
            <joint>RHand</joint>
            <mimicJoint>RFinger02</mimicJoint>
            <multiplier>-0.785398163398</multiplier>
            <offset>0.785398163398</offset>
        </plugin>
        <plugin filename="libroboticsgroup_gazebo_mimic_joint_plugin.so" name="mimic_RFinger03">
            <joint>RHand</joint>
            <mimicJoint>RFinger03</mimicJoint>
            <multiplier>-0.785398163398</multiplier>
            <offset>0.785398163398</offset>
        </plugin>
        <plugin filename="libroboticsgroup_gazebo_mimic_joint_plugin.so" name="mimic_RFinger01">
            <joint>RHand</joint>
            <mimicJoint>RFinger01</mimicJoint>
            <multiplier>-0.785398163398</multiplier>
            <offset>0.785398163398</offset>
        </plugin>
        <plugin filename="libroboticsgroup_gazebo_mimic_joint_plugin.so" name="mimic_RFinger02">
            <joint>RHand</joint>
            <mimicJoint>RFinger02</mimicJoint>
            <multiplier>-0.785398163398</multiplier>
            <offset>0.785398163398</offset>
        </plugin>
        <plugin filename="libroboticsgroup_gazebo_mimic_joint_plugin.so" name="mimic_RFinger03">
            <joint>RHand</joint>
            <mimicJoint>RFinger03</mimicJoint>
            <multiplier>-0.785398163398</multiplier>
            <offset>0.785398163398</offset>
        </plugin>
        <plugin filename="libroboticsgroup_gazebo_mimic_joint_plugin.so" name="LThumb1">
            <joint>LHand</joint>
            <mimicJoint>LThumb1</mimicJoint>
            <multiplier>-0.785398163398</multiplier>
            <offset>0.785398163398</offset>
        </plugin>
        <plugin filename="libroboticsgroup_gazebo_mimic_joint_plugin.so" name="LThumb2">
            <joint>LHand</joint>
            <mimicJoint>LThumb2</mimicJoint>
            <multiplier>-0.785398163398</multiplier>
            <offset>0.785398163398</offset>
        </plugin>
        <plugin filename="libroboticsgroup_gazebo_mimic_joint_plugin.so" name="RThumb1">
            <joint>RHand</joint>
            <mimicJoint>RThumb1</mimicJoint>
            <multiplier>-0.785398163398</multiplier>
            <offset>0.785398163398</offset>
        </plugin>
        <plugin filename="libroboticsgroup_gazebo_mimic_joint_plugin.so" name="RThumb2">
            <joint>RHand</joint>
            <mimicJoint>RThumb2</mimicJoint>
            <multiplier>-0.785398163398</multiplier>
            <offset>0.785398163398</offset>
        </plugin>
        <plugin filename="libroboticsgroup_gazebo_disable_link_plugin.so" name="LFinger11_link">
            <link>LFinger11_link</link>
        </plugin>
        <plugin filename="libroboticsgroup_gazebo_disable_link_plugin.so" name="LFinger12_link">
            <link>LFinger12_link</link>
        </plugin>
        <plugin filename="libroboticsgroup_gazebo_disable_link_plugin.so" name="LFinger13_link">
            <link>LFinger13_link</link>
        </plugin>
        <plugin filename="libroboticsgroup_gazebo_disable_link_plugin.so" name="LFinger21_link">
            <link>LFinger21_link</link>
        </plugin>
        <plugin filename="libroboticsgroup_gazebo_disable_link_plugin.so" name="LFinger22_link">
            <link>LFinger22_link</link>
        </plugin>
        <plugin filename="libroboticsgroup_gazebo_disable_link_plugin.so" name="LFinger23_link">
            <link>LFinger23_link</link>
        </plugin>
        <plugin filename="libroboticsgroup_gazebo_disable_link_plugin.so" name="LThumb1_link">
            <link>LThumb1_link</link>
        </plugin>
        <plugin filename="libroboticsgroup_gazebo_disable_link_plugin.so" name="LThumb2_link">
            <link>LThumb2_link</link>
        </plugin>
        <plugin filename="libroboticsgroup_gazebo_disable_link_plugin.so" name="l_gripper">
            <link>l_gripper</link>
        </plugin>
        <plugin filename="libroboticsgroup_gazebo_disable_link_plugin.so" name="RFinger11_link">
            <link>RFinger11_link</link>
        </plugin>
        <plugin filename="libroboticsgroup_gazebo_disable_link_plugin.so" name="RFinger12_link">
            <link>RFinger12_link</link>
        </plugin>
        <plugin filename="libroboticsgroup_gazebo_disable_link_plugin.so" name="RFinger13_link">
            <link>RFinger13_link</link>
        </plugin>
        <plugin filename="libroboticsgroup_gazebo_disable_link_plugin.so" name="RFinger21_link">
            <link>RFinger21_link</link>
        </plugin>
        <plugin filename="libroboticsgroup_gazebo_disable_link_plugin.so" name="RFinger22_link">
            <link>RFinger22_link</link>
        </plugin>
        <plugin filename="libroboticsgroup_gazebo_disable_link_plugin.so" name="RFinger23_link">
            <link>RFinger23_link</link>
        </plugin>
        <plugin filename="libroboticsgroup_gazebo_disable_link_plugin.so" name="RThumb1_link">
            <link>RThumb1_link</link>
        </plugin>
        <plugin filename="libroboticsgroup_gazebo_disable_link_plugin.so" name="RThumb2_link">
            <link>RThumb2_link</link>
        </plugin>
        <plugin filename="libroboticsgroup_gazebo_disable_link_plugin.so" name="r_gripper">
            <link>r_gripper</link>
        </plugin>
    </gazebo>
    <!-- END OF GAZEBO ROS CONTROL PLUGIN -->
    <!-- GAZEBO MATERIALS -->
    <gazebo reference="torso">
        <mu1>0.5</mu1>
        <mu2>0.5</mu2>
        <selfCollide>false</selfCollide>
        <turnGravityOff>false</turnGravityOff>
    </gazebo>
    <gazebo reference="Neck">
        <mu1>0.5</mu1>
        <mu2>0.5</mu2>
        <selfCollide>false</selfCollide>
        <turnGravityOff>false</turnGravityOff>
    </gazebo>
    <gazebo reference="Head">
        <mu1>0.5</mu1>
        <mu2>0.5</mu2>
        <selfCollide>false</selfCollide>
        <turnGravityOff>false</turnGravityOff>
    </gazebo>
    <gazebo reference="gaze">
        <mu1>0.5</mu1>
        <mu2>0.5</mu2>
        <selfCollide>false</selfCollide>
        <turnGravityOff>false</turnGravityOff>
    </gazebo>
    <!--    <gazebo reference="LShoulderDummy">
        <mu1>0.5</mu1>
        <mu2>0.5</mu2>
        <selfCollide>false</selfCollide>
        <turnGravityOff>false</turnGravityOff>
    </gazebo>
    <gazebo reference="RShoulderDummy">
        <mu1>0.5</mu1>
        <mu2>0.5</mu2>
        <selfCollide>false</selfCollide>
        <turnGravityOff>false</turnGravityOff>
    </gazebo> -->
    <!-- ARMS -->
    <gazebo reference="LShoulder">
        <mu1>0.5</mu1>
        <mu2>0.5</mu2>
        <selfCollide>false</selfCollide>
        <turnGravityOff>false</turnGravityOff>
    </gazebo>
    <gazebo reference="LBicep">
        <mu1>0.5</mu1>
        <mu2>0.5</mu2>
        <selfCollide>false</selfCollide>
        <turnGravityOff>false</turnGravityOff>
    </gazebo>
    <gazebo reference="LElbow">
        <mu1>0.5</mu1>
        <mu2>0.5</mu2>
        <selfCollide>false</selfCollide>
        <turnGravityOff>false</turnGravityOff>
    </gazebo>
    <gazebo reference="LForeArm">
        <mu1>0.5</mu1>
        <mu2>0.5</mu2>
        <selfCollide>false</selfCollide>
        <turnGravityOff>false</turnGravityOff>
    </gazebo>
    <gazebo reference="l_wrist">
        <mu1>0.5</mu1>
        <mu2>0.5</mu2>
        <selfCollide>false</selfCollide>
        <turnGravityOff>false</turnGravityOff>
    </gazebo>
    <gazebo reference="l_gripper">
        <mu1>0.5</mu1>
        <mu2>0.5</mu2>
        <selfCollide>false</selfCollide>
        <turnGravityOff>true</turnGravityOff>
    </gazebo>
    <gazebo reference="RShoulder">
        <mu1>0.5</mu1>
        <mu2>0.5</mu2>
        <selfCollide>false</selfCollide>
        <turnGravityOff>false</turnGravityOff>
    </gazebo>
    <gazebo reference="RBicep">
        <mu1>0.5</mu1>
        <mu2>0.5</mu2>
        <selfCollide>false</selfCollide>
        <turnGravityOff>false</turnGravityOff>
    </gazebo>
    <gazebo reference="RElbow">
        <mu1>0.5</mu1>
        <mu2>0.5</mu2>
        <selfCollide>false</selfCollide>
        <turnGravityOff>false</turnGravityOff>
    </gazebo>
    <gazebo reference="RForeArm">
        <mu1>0.5</mu1>
        <mu2>0.5</mu2>
        <selfCollide>false</selfCollide>
        <turnGravityOff>false</turnGravityOff>
    </gazebo>
    <gazebo reference="r_wrist">
        <mu1>0.5</mu1>
        <mu2>0.5</mu2>
        <selfCollide>false</selfCollide>
        <turnGravityOff>false</turnGravityOff>
    </gazebo>
    <gazebo reference="r_gripper">
        <mu1>0.5</mu1>
        <mu2>0.5</mu2>
        <selfCollide>false</selfCollide>
        <turnGravityOff>true</turnGravityOff>
    </gazebo>
    <!--    <gazebo reference="LElbowDummy">
        <mu1>0.5</mu1>
        <mu2>0.5</mu2>
        <selfCollide>false</selfCollide>
        <turnGravityOff>false</turnGravityOff>
    </gazebo>
-->
    <gazebo reference="LFinger11_link">
        <mu1>0.5</mu1>
        <mu2>0.5</mu2>
        <selfCollide>false</selfCollide>
        <turnGravityOff>false</turnGravityOff>
    </gazebo>
    <gazebo reference="LFinger12_link">
        <mu1>0.5</mu1>
        <mu2>0.5</mu2>
        <selfCollide>false</selfCollide>
        <turnGravityOff>false</turnGravityOff>
    </gazebo>
    <gazebo reference="LFinger13_link">
        <mu1>0.5</mu1>
        <mu2>0.5</mu2>
        <selfCollide>false</selfCollide>
        <turnGravityOff>false</turnGravityOff>
    </gazebo>
    <gazebo reference="LFinger21_link">
        <mu1>0.5</mu1>
        <mu2>0.5</mu2>
        <selfCollide>false</selfCollide>
        <turnGravityOff>false</turnGravityOff>
    </gazebo>
    <gazebo reference="LFinger22_link">
        <mu1>0.5</mu1>
        <mu2>0.5</mu2>
        <selfCollide>false</selfCollide>
        <turnGravityOff>false</turnGravityOff>
    </gazebo>
    <gazebo reference="LFinger23_link">
        <mu1>0.5</mu1>
        <mu2>0.5</mu2>
        <selfCollide>false</selfCollide>
        <turnGravityOff>false</turnGravityOff>
    </gazebo>
    <gazebo reference="LThumb1_link">
        <mu1>0.5</mu1>
        <mu2>0.5</mu2>
        <selfCollide>false</selfCollide>
        <turnGravityOff>false</turnGravityOff>
    </gazebo>
    <gazebo reference="LThumb2_link">
        <mu1>0.5</mu1>
        <mu2>0.5</mu2>
        <selfCollide>false</selfCollide>
        <turnGravityOff>false</turnGravityOff>
    </gazebo>
    <gazebo reference="LPelvis">
        <mu1>0.5</mu1>
        <mu2>0.5</mu2>
        <selfCollide>false</selfCollide>
        <turnGravityOff>false</turnGravityOff>
    </gazebo>
    <gazebo reference="LHip">
        <mu1>0.5</mu1>
        <mu2>0.5</mu2>
        <selfCollide>false</selfCollide>
        <turnGravityOff>false</turnGravityOff>
    </gazebo>
    <gazebo reference="LThigh">
        <mu1>0.5</mu1>
        <mu2>0.5</mu2>
        <selfCollide>false</selfCollide>
        <turnGravityOff>false</turnGravityOff>
    </gazebo>
    <gazebo reference="LTibia">
        <mu1>0.5</mu1>
        <mu2>0.5</mu2>
        <selfCollide>false</selfCollide>
        <turnGravityOff>false</turnGravityOff>
    </gazebo>
    <gazebo reference="LAnklePitch">
        <mu1>0.5</mu1>
        <mu2>0.5</mu2>
        <selfCollide>false</selfCollide>
        <turnGravityOff>false</turnGravityOff>
    </gazebo>
    <gazebo reference="l_ankle">
        <mu1>0.5</mu1>
        <mu2>0.5</mu2>
        <selfCollide>false</selfCollide>
        <turnGravityOff>false</turnGravityOff>
        <fdir1>1 0 0</fdir1>
        <maxVel>0.1</maxVel>
        <minDepth>0.003</minDepth>
    </gazebo>
    <gazebo reference="RPelvis">
        <mu1>0.5</mu1>
        <mu2>0.5</mu2>
        <selfCollide>false</selfCollide>
        <turnGravityOff>false</turnGravityOff>
    </gazebo>
    <gazebo reference="RHip">
        <mu1>0.5</mu1>
        <mu2>0.5</mu2>
        <selfCollide>false</selfCollide>
        <turnGravityOff>false</turnGravityOff>
    </gazebo>
    <gazebo reference="RThigh">
        <mu1>0.5</mu1>
        <mu2>0.5</mu2>
        <selfCollide>false</selfCollide>
        <turnGravityOff>false</turnGravityOff>
    </gazebo>
    <gazebo reference="RTibia">
        <mu1>0.5</mu1>
        <mu2>0.5</mu2>
        <selfCollide>false</selfCollide>
        <turnGravityOff>false</turnGravityOff>
    </gazebo>
    <gazebo reference="RAnklePitch">
        <mu1>0.5</mu1>
        <mu2>0.5</mu2>
        <selfCollide>false</selfCollide>
        <turnGravityOff>false</turnGravityOff>
    </gazebo>
    <gazebo reference="r_ankle">
        <mu1>0.5</mu1>
        <mu2>0.5</mu2>
        <selfCollide>false</selfCollide>
        <turnGravityOff>false</turnGravityOff>
        <fdir1>1 0 0</fdir1>
        <maxVel>0.1</maxVel>
        <minDepth>0.003</minDepth>
    </gazebo>
    <gazebo reference="RFinger11_link">
        <mu1>0.5</mu1>
        <mu2>0.5</mu2>
        <selfCollide>false</selfCollide>
        <turnGravityOff>false</turnGravityOff>
    </gazebo>
    <gazebo reference="RFinger12_link">
        <mu1>0.5</mu1>
        <mu2>0.5</mu2>
        <selfCollide>false</selfCollide>
        <turnGravityOff>false</turnGravityOff>
    </gazebo>
    <gazebo reference="RFinger13_link">
        <mu1>0.5</mu1>
        <mu2>0.5</mu2>
        <selfCollide>false</selfCollide>
        <turnGravityOff>false</turnGravityOff>
    </gazebo>
    <gazebo reference="RFinger21_link">
        <mu1>0.5</mu1>
        <mu2>0.5</mu2>
        <selfCollide>false</selfCollide>
        <turnGravityOff>false</turnGravityOff>
    </gazebo>
    <gazebo reference="RFinger22_link">
        <mu1>0.5</mu1>
        <mu2>0.5</mu2>
        <selfCollide>false</selfCollide>
        <turnGravityOff>false</turnGravityOff>
    </gazebo>
    <gazebo reference="RFinger23_link">
        <mu1>0.5</mu1>
        <mu2>0.5</mu2>
        <selfCollide>false</selfCollide>
        <turnGravityOff>false</turnGravityOff>
    </gazebo>
    <gazebo reference="RThumb1_link">
        <mu1>0.5</mu1>
        <mu2>0.5</mu2>
        <selfCollide>false</selfCollide>
        <turnGravityOff>false</turnGravityOff>
    </gazebo>
    <gazebo reference="RThumb2_link">
        <mu1>0.5</mu1>
        <mu2>0.5</mu2>
        <selfCollide>false</selfCollide>
        <turnGravityOff>false</turnGravityOff>
    </gazebo>
    <!--

        RGB CAMERAS: Working
-->
    <gazebo reference="CameraTop_frame">
        <sensor name="CameraTop" type="camera">
            <update_rate>5.0</update_rate>
            <camera name="camera_top">
                <horizontal_fov>1.06290551</horizontal_fov>
                <image>
                    <width>640</width>
                    <height>480</height>
                    <format>R8G8B8</format>
                </image>
                <clip>
                    <near>0.3</near>
                    <far>500</far>
                </clip>
                <noise>
                    <type>gaussian</type>
                    <mean>0.0</mean>
                    <stddev>0.007</stddev>
                </noise>
            </camera>
            <plugin filename="libgazebo_ros_camera.so" name="camera_controller">
                <alwaysOn>true</alwaysOn>
                <updateRate>5.0</updateRate>
                <cameraName>camera/top</cameraName>
                <imageTopicName>image_raw</imageTopicName>
                <cameraInfoTopicName>camera_info</cameraInfoTopicName>
                <frameName>CameraTop_optical_frame</frameName>
                <hackBaseline>0.07</hackBaseline>
                <distortionK1>-0.0545211</distortionK1>
                <distortionK2>0.06919734</distortionK2>
                <distortionK3>-0.0241095</distortionK3>
                <distortionT1>-0.0112245</distortionT1>
                <distortionT2>0.0</distortionT2>
            </plugin>
        </sensor>
    </gazebo>
    <gazebo reference="CameraBottom_frame">
        <sensor name="CameraBottom" type="camera">
            <update_rate>5.0</update_rate>
            <camera name="camera_bottom">
                <horizontal_fov>1.06290551</horizontal_fov>
                <image>
                    <width>640</width>
                    <height>480</height>
                    <format>R8G8B8</format>
                </image>
                <clip>
                    <near>0.05</near>
                    <far>500</far>
                </clip>
                <noise>
                    <type>gaussian</type>
                    <mean>0.0</mean>
                    <stddev>0.007</stddev>
                </noise>
            </camera>
            <plugin filename="libgazebo_ros_camera.so" name="camera_controller">
                <alwaysOn>true</alwaysOn>
                <updateRate>5.0</updateRate>
                <cameraName>camera_bottom</cameraName>
                <imageTopicName>image_raw</imageTopicName>
                <cameraInfoTopicName>camera_info</cameraInfoTopicName>
                <frameName>CameraBottom_optical_frame</frameName>
                <hackBaseline>0.07</hackBaseline>
                <distortionK1>-0.0648764</distortionK1>
                <distortionK2>0.06125202</distortionK2>
                <distortionK3>0.00382815</distortionK3>
                <distortionT1>-0.00551104</distortionT1>
                <distortionT2>0.0</distortionT2>
            </plugin>
        </sensor>
    </gazebo>
    <!--

        CameraDepth : not displayed at the right spot

<gazebo reference="CameraDepth3_frame">
    <sensor type="depth" name="openni_camera_camera2">
        <always_on>1</always_on>
        <visualize>true</visualize>
        <camera>
            <horizontal_fov>1.01229</horizontal_fov>
            <image>
                <width>320</width>
                <height>240</height>
                <format>R8G8B8</format>
            </image>
            <depth_camera>

            </depth_camera>
            <clip>
                <near>0.1</near>
                <far>100</far>
            </clip>
        </camera>
        <plugin name="depth_cam_controller2" filename="libgazebo_ros_openni_kinect.so">
            <baseline>0.2</baseline>
            <alwaysOn>true</alwaysOn>
            <updateRate>0.1</updateRate>
            <cameraName>xtion2</cameraName>
            <imageTopicName>/xtion2/ir/image_raw</imageTopicName>
            <cameraInfoTopicName>/xtion2/ir/camera_info</cameraInfoTopicName>
            <depthImageTopicName>/xtion2/depth/image_raw</depthImageTopicName>
            <depthImageInfoTopicName>/xtion2/depth/camera_info</depthImageInfoTopicName>
            <pointCloudTopicName>/xtion2/depth/points</pointCloudTopicName>
            <frameName>CameraDepth2_frame</frameName>
            <pointCloudCutoff>0.5</pointCloudCutoff>
            <distortionK1>0.00000001</distortionK1>
            <distortionK2>0.00000001</distortionK2>
            <distortionK3>0.00000001</distortionK3>
            <distortionT1>0.00000001</distortionT1>
            <distortionT2>0.00000001</distortionT2>
            <CxPrime>0</CxPrime>
            <Cx>0</Cx>
            <Cy>0</Cy>
            <focalLength>0</focalLength>
            <hackBaseline>0</hackBaseline>
        </plugin>
    </sensor>
</gazebo>
-->
    <!--
    BUMPERS + FSR
libgazebo_ros_bumper.so bugged right now, waiting for new release


<gazebo reference="LFootBumper_frame">
  <sensor type="contact" name="LFootBumper">
    <update_rate>10</update_rate>
    <contact>
      <collision>LFootBumper_frame_collision</collision>
    </contact>
    <plugin filename="libgazebo_ros_bumper.so" name="gazebo_nao_ros_bumper">
      <alwaysOn>true</alwaysOn>
      <bumperTopicName>LFootBumper</bumperTopicName>
      <frameName>LFootBumper_frame</frameName>
    </plugin>
  </sensor>
</gazebo>
-->
    <gazebo reference="RFsrFL_frame">
        <mu1>0.5</mu1>
        <mu2>0.5</mu2>
        <selfCollide>false</selfCollide>
        <turnGravityOff>false</turnGravityOff>
        <fdir1>1 0 0</fdir1>
        <maxVel>0.1</maxVel>
        <minDepth>0.003</minDepth>
        <sensor name="RFsrFL" type="contact">
            <always_on>1</always_on>
            <update_rate>20</update_rate>
            <visualize>false</visualize>
            <contact>
                <collision>RFsrFL_frame_collision</collision>
            </contact>
            <plugin filename="libgazebo_ros_bumper.so" name="gazebo_nao_RFsrFL">
                <robotNamespace>nao_robot</robotNamespace>
                <alwaysOn>true</alwaysOn>
                <bumperTopicName>FSR/RFoot/FrontLeft</bumperTopicName>
                <frameName>RFsrFL_frame</frameName>
            </plugin>
        </sensor>
    </gazebo>
    <gazebo reference="RFsrFR_frame">
        <mu1>0.5</mu1>
        <mu2>0.5</mu2>
        <selfCollide>false</selfCollide>
        <turnGravityOff>false</turnGravityOff>
        <fdir1>1 0 0</fdir1>
        <maxVel>0.1</maxVel>
        <minDepth>0.003</minDepth>
        <sensor name="RFsrFR" type="contact">
            <always_on>1</always_on>
            <update_rate>20</update_rate>
            <visualize>false</visualize>
            <contact>
                <collision>RFsrFR_frame_collision</collision>
            </contact>
            <plugin filename="libgazebo_ros_bumper.so" name="gazebo_nao_RFsrFR">
                <robotNamespace>nao_robot</robotNamespace>
                <alwaysOn>true</alwaysOn>
                <bumperTopicName>FSR/RFoot/FrontRight</bumperTopicName>
                <frameName>RFsrFR_frame</frameName>
            </plugin>
        </sensor>
    </gazebo>
    <gazebo reference="RFsrRL_frame">
        <mu1>0.5</mu1>
        <mu2>0.5</mu2>
        <selfCollide>false</selfCollide>
        <turnGravityOff>false</turnGravityOff>
        <fdir1>1 0 0</fdir1>
        <maxVel>0.1</maxVel>
        <minDepth>0.003</minDepth>
        <sensor name="RFsrRL" type="contact">
            <always_on>1</always_on>
            <update_rate>20</update_rate>
            <visualize>false</visualize>
            <contact>
                <collision>RFsrRL_frame_collision</collision>
            </contact>
            <plugin filename="libgazebo_ros_bumper.so" name="gazebo_nao_RFsrRL">
                <robotNamespace>nao_robot</robotNamespace>
                <alwaysOn>true</alwaysOn>
                <bumperTopicName>FSR/RFoot/RearLeft</bumperTopicName>
                <frameName>RFsrRL_frame</frameName>
            </plugin>
        </sensor>
    </gazebo>
    <gazebo reference="RFsrRR_frame">
        <mu1>0.5</mu1>
        <mu2>0.5</mu2>
        <selfCollide>false</selfCollide>
        <turnGravityOff>false</turnGravityOff>
        <fdir1>1 0 0</fdir1>
        <maxVel>0.1</maxVel>
        <minDepth>0.003</minDepth>
        <sensor name="RFsrRR" type="contact">
            <always_on>1</always_on>
            <update_rate>20</update_rate>
            <visualize>false</visualize>
            <contact>
                <collision>RFsrRR_frame_collision</collision>
            </contact>
            <plugin filename="libgazebo_ros_bumper.so" name="gazebo_nao_RFsrRR">
                <robotNamespace>nao_robot</robotNamespace>
                <alwaysOn>true</alwaysOn>
                <bumperTopicName>FSR/RFoot/RearRight</bumperTopicName>
                <frameName>RFsrRR_frame</frameName>
            </plugin>
        </sensor>
    </gazebo>
    <gazebo reference="LFsrFL_frame">
        <mu1>0.5</mu1>
        <mu2>0.5</mu2>
        <selfCollide>false</selfCollide>
        <turnGravityOff>false</turnGravityOff>
        <fdir1>1 0 0</fdir1>
        <maxVel>0.1</maxVel>
        <minDepth>0.003</minDepth>
        <sensor name="LFsrFL" type="contact">
            <always_on>1</always_on>
            <update_rate>20</update_rate>
            <visualize>false</visualize>
            <contact>
                <collision>LFsrFL_frame_collision</collision>
            </contact>
            <plugin filename="libgazebo_ros_bumper.so" name="gazebo_nao_LFsrFL">
                <robotNamespace>nao_robot</robotNamespace>
                <alwaysOn>true</alwaysOn>
                <bumperTopicName>FSR/LFoot/FrontLeft</bumperTopicName>
                <frameName>LFsrFL_frame</frameName>
            </plugin>
        </sensor>
    </gazebo>
    <gazebo reference="LFsrFR_frame">
        <mu1>0.5</mu1>
        <mu2>0.5</mu2>
        <selfCollide>false</selfCollide>
        <turnGravityOff>false</turnGravityOff>
        <fdir1>1 0 0</fdir1>
        <maxVel>0.1</maxVel>
        <minDepth>0.003</minDepth>
        <sensor name="LFsrFR" type="contact">
            <always_on>1</always_on>
            <update_rate>20</update_rate>
            <visualize>false</visualize>
            <contact>
                <collision>LFsrFR_frame_collision</collision>
            </contact>
            <plugin filename="libgazebo_ros_bumper.so" name="gazebo_nao_ros_bumper">
                <robotNamespace>nao_robot</robotNamespace>
                <alwaysOn>true</alwaysOn>
                <bumperTopicName>FSR/LFoot/FrontRight</bumperTopicName>
                <frameName>LFsrFR_frame</frameName>
            </plugin>
        </sensor>
    </gazebo>
    <gazebo reference="LFsrRL_frame">
        <mu1>0.5</mu1>
        <mu2>0.5</mu2>
        <selfCollide>false</selfCollide>
        <turnGravityOff>false</turnGravityOff>
        <fdir1>1 0 0</fdir1>
        <maxVel>0.1</maxVel>
        <minDepth>0.003</minDepth>
        <sensor name="LFsrRL" type="contact">
            <always_on>1</always_on>
            <update_rate>20</update_rate>
            <visualize>false</visualize>
            <contact>
                <collision>LFsrRL_frame_collision</collision>
            </contact>
            <plugin filename="libgazebo_ros_bumper.so" name="gazebo_nao_ros_bumper">
                <robotNamespace>nao_robot</robotNamespace>
                <alwaysOn>true</alwaysOn>
                <bumperTopicName>FSR/LFoot/RearLeft</bumperTopicName>
                <frameName>LFsrRL_frame</frameName>
            </plugin>
        </sensor>
    </gazebo>
    <gazebo reference="LFsrRR_frame">
        <mu1>0.5</mu1>
        <mu2>0.5</mu2>
        <selfCollide>false</selfCollide>
        <turnGravityOff>false</turnGravityOff>
        <fdir1>1 0 0</fdir1>
        <maxVel>0.1</maxVel>
        <minDepth>0.003</minDepth>
        <sensor name="LFsrRR" type="contact">
            <always_on>1</always_on>
            <update_rate>20</update_rate>
            <visualize>false</visualize>
            <contact>
                <collision>LFsrRR_frame_collision</collision>
            </contact>
            <plugin filename="libgazebo_ros_bumper.so" name="gazebo_nao_ros_bumper">
                <robotNamespace>nao_robot</robotNamespace>
                <alwaysOn>true</alwaysOn>
                <bumperTopicName>FSR/LFoot/RearRight</bumperTopicName>
                <frameName>LFsrRR_frame</frameName>
            </plugin>
        </sensor>
    </gazebo>
    <!--
    Sonars
-->
    <gazebo reference="LSonar_frame">
        <sensor name="LSonar" type="ray">
            <pose>0 0 0 0 0 0</pose>
            <update_rate>20</update_rate>
            <visualize>false</visualize>
            <ray>
                <scan>
                    <horizontal>
                        <samples>5</samples>
                        <resolution>1</resolution>
                        <min_angle>-0.2617993877991494</min_angle>
                        <max_angle>0.2617993877991494</max_angle>
                        <!--
          <min_angle>-0.10</min_angle>
          <max_angle>0.10</max_angle>
-->
                    </horizontal>
                    <vertical>
                        <samples>5</samples>
                        <resolution>1</resolution>
                        <min_angle>-0.13</min_angle>
                        <max_angle>0.13</max_angle>
                        <!--
          <min_angle>-0.2617993877991494</min_angle>
          <max_angle>0.2617993877991494</max_angle>
-->
                    </vertical>
                </scan>
                <range>
                    <min>0.025</min>
                    <max>2.55</max>
                    <resolution>1</resolution>
                </range>
            </ray>
            <plugin filename="libgazebo_ros_range.so" name="gazebo_ros_range">
                <robotNamespace>nao_robot</robotNamespace>
                <gaussianNoise>0.05</gaussianNoise>
                <alwaysOn>true</alwaysOn>
                <updateRate>20</updateRate>
                <topicName>sonar_left</topicName>
                <frameName>LSonar_frame</frameName>
                <minRange>0.025</minRange>
                <maxRange>2.55</maxRange>
                <fov>0.5235987755982988</fov>
                <!--      <fov>0.1</fov> -->
                <radiation>ultrasound</radiation>
            </plugin>
        </sensor>
    </gazebo>
    <gazebo reference="RSonar_frame">
        <sensor name="RSonar" type="ray">
            <pose>0 0 0 0 0 0</pose>
            <update_rate>20</update_rate>
            <visualize>false</visualize>
            <ray>
                <scan>
                    <horizontal>
                        <samples>5</samples>
                        <resolution>1</resolution>
                        <min_angle>-0.2617993877991494</min_angle>
                        <max_angle>0.2617993877991494</max_angle>
                    </horizontal>
                    <vertical>
                        <samples>5</samples>
                        <resolution>1</resolution>
                        <min_angle>-0.13</min_angle>
                        <max_angle>0.13</max_angle>
                    </vertical>
                </scan>
                <range>
                    <min>0.025</min>
                    <max>2.55</max>
                    <resolution>1</resolution>
                </range>
            </ray>
            <plugin filename="libgazebo_ros_range.so" name="gazebo_ros_range">
                <robotNamespace>nao_robot</robotNamespace>
                <gaussianNoise>0.05</gaussianNoise>
                <alwaysOn>true</alwaysOn>
                <updateRate>20</updateRate>
                <topicName>sonar_right</topicName>
                <frameName>RSonar_frame</frameName>
                <minRange>0.025</minRange>
                <maxRange>2.55</maxRange>
                <fov>0.5235987755982988</fov>
                <radiation>ultrasound</radiation>
            </plugin>
        </sensor>
    </gazebo>
    <!-- HEAD -->
    
<transmission name="HeadYaw_Transmission">
        <type>transmission_interface/SimpleTransmission</type>
        <joint name="HeadYaw">
            <hardwareInterface>hardware_interface/PositionJointInterface</hardwareInterface>
        </joint>
        <actuator name="HeadYaw_Motor">
            <!-- Dummy Values -->
            <hardwareInterface>hardware_interface/PositionJointInterface</hardwareInterface>
            <mechanicalReduction>150.27</mechanicalReduction>
        </actuator>
    </transmission>
    <transmission name="HeadPitch_Transmission">
        <type>transmission_interface/SimpleTransmission</type>
        <joint name="HeadPitch">
            <hardwareInterface>hardware_interface/PositionJointInterface</hardwareInterface>
        </joint>
        <actuator name="HeadPitch_Motor">
            <!-- Dummy Values -->
            <hardwareInterface>hardware_interface/PositionJointInterface</hardwareInterface>
            <mechanicalReduction>173.22</mechanicalReduction>
        </actuator>
    </transmission>
    <transmission name="LShoulderPitch_Transmission">
        <type>transmission_interface/SimpleTransmission</type>
        <joint name="LShoulderPitch">
            <hardwareInterface>hardware_interface/PositionJointInterface</hardwareInterface>
        </joint>
        <actuator name="LShoulderPitch_Motor">
            <hardwareInterface>hardware_interface/PositionJointInterface</hardwareInterface>
            <mechanicalReduction>150.27</mechanicalReduction>
        </actuator>
    </transmission>
    <transmission name="LShoulderRoll_Transmission">
        <type>transmission_interface/SimpleTransmission</type>
        <joint name="LShoulderRoll">
            <hardwareInterface>hardware_interface/PositionJointInterface</hardwareInterface>
        </joint>
        <actuator name="LShoulderRoll_Motor">
            <hardwareInterface>hardware_interface/PositionJointInterface</hardwareInterface>
            <mechanicalReduction>173.22</mechanicalReduction>
        </actuator>
    </transmission>
    <transmission name="LElbowYaw_Transmission">
        <type>transmission_interface/SimpleTransmission</type>
        <joint name="LElbowYaw">
            <hardwareInterface>hardware_interface/PositionJointInterface</hardwareInterface>
        </joint>
        <actuator name="LElbowYaw_Motor">
            <hardwareInterface>hardware_interface/PositionJointInterface</hardwareInterface>
            <mechanicalReduction>150.27</mechanicalReduction>
        </actuator>
    </transmission>
    <transmission name="LElbowRoll_Transmission">
        <type>transmission_interface/SimpleTransmission</type>
        <joint name="LElbowRoll">
            <hardwareInterface>hardware_interface/PositionJointInterface</hardwareInterface>
        </joint>
        <actuator name="LElbowRoll_Motor">
            <hardwareInterface>hardware_interface/PositionJointInterface</hardwareInterface>
            <mechanicalReduction>173.22</mechanicalReduction>
        </actuator>
    </transmission>
    <transmission name="LWristYaw_Transmission">
        <type>transmission_interface/SimpleTransmission</type>
        <joint name="LWristYaw">
            <hardwareInterface>hardware_interface/PositionJointInterface</hardwareInterface>
        </joint>
        <actuator name="LWristYaw_Motor">
            <hardwareInterface>hardware_interface/PositionJointInterface</hardwareInterface>
            <mechanicalReduction>50.61</mechanicalReduction>
        </actuator>
    </transmission>
    <transmission name="LHand_Transmission">
        <type>transmission_interface/SimpleTransmission</type>
        <joint name="LHand">
            <hardwareInterface>hardware_interface/PositionJointInterface</hardwareInterface>
        </joint>
        <actuator name="LHand_Motor">
            <hardwareInterface>hardware_interface/PositionJointInterface</hardwareInterface>
            <mechanicalReduction>36.24</mechanicalReduction>
        </actuator>
    </transmission>
    <transmission name="RShoulderPitch_Transmission">
        <type>transmission_interface/SimpleTransmission</type>
        <joint name="RShoulderPitch">
            <hardwareInterface>hardware_interface/PositionJointInterface</hardwareInterface>
        </joint>
        <actuator name="RShoulderPitch_Motor">
            <hardwareInterface>hardware_interface/PositionJointInterface</hardwareInterface>
            <mechanicalReduction>150.27</mechanicalReduction>
        </actuator>
    </transmission>
    <transmission name="RShoulderRoll_Transmission">
        <type>transmission_interface/SimpleTransmission</type>
        <joint name="RShoulderRoll">
            <hardwareInterface>hardware_interface/PositionJointInterface</hardwareInterface>
        </joint>
        <actuator name="RShoulderRoll_Motor">
            <hardwareInterface>hardware_interface/PositionJointInterface</hardwareInterface>
            <mechanicalReduction>173.22</mechanicalReduction>
        </actuator>
    </transmission>
    <transmission name="RElbowYaw_Transmission">
        <type>transmission_interface/SimpleTransmission</type>
        <joint name="RElbowYaw">
            <hardwareInterface>hardware_interface/PositionJointInterface</hardwareInterface>
        </joint>
        <actuator name="RElbowYaw_Motor">
            <hardwareInterface>hardware_interface/PositionJointInterface</hardwareInterface>
            <mechanicalReduction>150.27</mechanicalReduction>
        </actuator>
    </transmission>
    <transmission name="RElbowRoll_Transmission">
        <type>transmission_interface/SimpleTransmission</type>
        <joint name="RElbowRoll">
            <hardwareInterface>hardware_interface/PositionJointInterface</hardwareInterface>
        </joint>
        <actuator name="RElbowRoll_Motor">
            <hardwareInterface>hardware_interface/PositionJointInterface</hardwareInterface>
            <mechanicalReduction>173.22</mechanicalReduction>
        </actuator>
    </transmission>
    <transmission name="RWristYaw_Transmission">
        <type>transmission_interface/SimpleTransmission</type>
        <joint name="RWristYaw">
            <hardwareInterface>hardware_interface/PositionJointInterface</hardwareInterface>
        </joint>
        <actuator name="RWristYaw_Motor">
            <hardwareInterface>hardware_interface/PositionJointInterface</hardwareInterface>
            <mechanicalReduction>50.61</mechanicalReduction>
        </actuator>
    </transmission>
    <transmission name="RHand_Transmission">
        <type>transmission_interface/SimpleTransmission</type>
        <joint name="RHand">
            <hardwareInterface>hardware_interface/PositionJointInterface</hardwareInterface>
        </joint>
        <actuator name="RHand_Motor">
            <hardwareInterface>hardware_interface/PositionJointInterface</hardwareInterface>
            <mechanicalReduction>36.24</mechanicalReduction>
        </actuator>
    </transmission>
    <transmission name="LHipYawPitch_Transmission">
        <type>transmission_interface/SimpleTransmission</type>
        <joint name="LHipYawPitch">
            <hardwareInterface>hardware_interface/PositionJointInterface</hardwareInterface>
        </joint>
        <actuator name="LHipYawPitch_Motor">
            <!-- Dummy Values -->
            <hardwareInterface>hardware_interface/PositionJointInterface</hardwareInterface>
            <mechanicalReduction>201.3</mechanicalReduction>
        </actuator>
    </transmission>
    <transmission name="LHipRoll_Transmission">
        <type>transmission_interface/SimpleTransmission</type>
        <joint name="LHipRoll">
            <hardwareInterface>hardware_interface/PositionJointInterface</hardwareInterface>
        </joint>
        <actuator name="LHipRoll_Motor">
            <!-- Dummy Values -->
            <hardwareInterface>hardware_interface/PositionJointInterface</hardwareInterface>
            <mechanicalReduction>201.3</mechanicalReduction>
        </actuator>
    </transmission>
    <transmission name="LHipPitch_Transmission">
        <type>transmission_interface/SimpleTransmission</type>
        <joint name="LHipPitch">
            <hardwareInterface>hardware_interface/PositionJointInterface</hardwareInterface>
        </joint>
        <actuator name="LHipPitch_Motor">
            <!-- Dummy Values -->
            <hardwareInterface>hardware_interface/PositionJointInterface</hardwareInterface>
            <mechanicalReduction>130.85</mechanicalReduction>
        </actuator>
    </transmission>
    <transmission name="LKneePitch_Transmission">
        <type>transmission_interface/SimpleTransmission</type>
        <joint name="LKneePitch">
            <hardwareInterface>hardware_interface/PositionJointInterface</hardwareInterface>
        </joint>
        <actuator name="LKneePitch_Motor">
            <!-- Dummy Values -->
            <hardwareInterface>hardware_interface/PositionJointInterface</hardwareInterface>
            <mechanicalReduction>130.85</mechanicalReduction>
        </actuator>
    </transmission>
    <transmission name="LAnklePitch_Transmission">
        <type>transmission_interface/SimpleTransmission</type>
        <joint name="LAnklePitch">
            <hardwareInterface>hardware_interface/PositionJointInterface</hardwareInterface>
        </joint>
        <actuator name="LAnklePitch_Motor">
            <!-- Dummy Values -->
            <hardwareInterface>hardware_interface/PositionJointInterface</hardwareInterface>
            <mechanicalReduction>130.85</mechanicalReduction>
        </actuator>
    </transmission>
    <transmission name="LAnkleRoll_Transmission">
        <type>transmission_interface/SimpleTransmission</type>
        <joint name="LAnkleRoll">
            <hardwareInterface>hardware_interface/PositionJointInterface</hardwareInterface>
        </joint>
        <actuator name="LAnkleRoll_Motor">
            <!-- Dummy Values -->
            <hardwareInterface>hardware_interface/PositionJointInterface</hardwareInterface>
            <mechanicalReduction>201.3</mechanicalReduction>
        </actuator>
    </transmission>
    <transmission name="RHipYawPitch_Transmission">
        <type>transmission_interface/SimpleTransmission</type>
        <joint name="RHipYawPitch">
            <hardwareInterface>hardware_interface/PositionJointInterface</hardwareInterface>
        </joint>
        <actuator name="RHipYawPitch_Motor">
            <!-- Dummy Values -->
            <hardwareInterface>hardware_interface/PositionJointInterface</hardwareInterface>
            <mechanicalReduction>201.3</mechanicalReduction>
        </actuator>
    </transmission>
    <transmission name="RHipRoll_Transmission">
        <type>transmission_interface/SimpleTransmission</type>
        <joint name="RHipRoll">
            <hardwareInterface>hardware_interface/PositionJointInterface</hardwareInterface>
        </joint>
        <actuator name="RHipRoll_Motor">
            <!-- Dummy Values -->
            <hardwareInterface>hardware_interface/PositionJointInterface</hardwareInterface>
            <mechanicalReduction>201.3</mechanicalReduction>
        </actuator>
    </transmission>
    <transmission name="RHipPitch_Transmission">
        <type>transmission_interface/SimpleTransmission</type>
        <joint name="RHipPitch">
            <hardwareInterface>hardware_interface/PositionJointInterface</hardwareInterface>
        </joint>
        <actuator name="RHipPitch_Motor">
            <!-- Dummy Values -->
            <hardwareInterface>hardware_interface/PositionJointInterface</hardwareInterface>
            <mechanicalReduction>130.85</mechanicalReduction>
        </actuator>
    </transmission>
    <transmission name="RKneePitch_Transmission">
        <type>transmission_interface/SimpleTransmission</type>
        <joint name="RKneePitch">
            <hardwareInterface>hardware_interface/PositionJointInterface</hardwareInterface>
        </joint>
        <actuator name="RKneePitch_Motor">
            <!-- Dummy Values -->
            <hardwareInterface>hardware_interface/PositionJointInterface</hardwareInterface>
            <mechanicalReduction>130.85</mechanicalReduction>
        </actuator>
    </transmission>
    <transmission name="RAnklePitch_Transmission">
        <type>transmission_interface/SimpleTransmission</type>
        <joint name="RAnklePitch">
            <hardwareInterface>hardware_interface/PositionJointInterface</hardwareInterface>
        </joint>
        <actuator name="RAnklePitch_Motor">
            <!-- Dummy Values -->
            <hardwareInterface>hardware_interface/PositionJointInterface</hardwareInterface>
            <mechanicalReduction>130.85</mechanicalReduction>
        </actuator>
    </transmission>
    <transmission name="RAnkleRoll_Transmission">
        <type>transmission_interface/SimpleTransmission</type>
        <joint name="RAnkleRoll">
            <hardwareInterface>hardware_interface/PositionJointInterface</hardwareInterface>
        </joint>
        <actuator name="RAnkleRoll_Motor">
            <!-- Dummy Values -->
            <hardwareInterface>hardware_interface/PositionJointInterface</hardwareInterface>
            <mechanicalReduction>201.3</mechanicalReduction>
        </actuator>
    </transmission>
    <transmission name="trans_HeadYaw">
        <type>transmission_interface/SimpleTransmission</type>
        <joint name="HeadYaw">
            <hardwareInterface>hardware_interface/EffortJointInterface</hardwareInterface>
        </joint>
        <actuator name="HeadYaw_motor">
            <hardwareInterface>hardware_interface/EffortJointInterface</hardwareInterface>
            <mechanicalReduction>1</mechanicalReduction>
        </actuator>
    </transmission>
    <transmission name="trans_HeadPitch">
        <type>transmission_interface/SimpleTransmission</type>
        <joint name="HeadPitch">
            <hardwareInterface>hardware_interface/EffortJointInterface</hardwareInterface>
        </joint>
        <actuator name="HeadPitch_motor">
            <hardwareInterface>hardware_interface/EffortJointInterface</hardwareInterface>
            <mechanicalReduction>1</mechanicalReduction>
        </actuator>
    </transmission>
    <transmission name="trans_LHipYawPitch">
        <type>transmission_interface/SimpleTransmission</type>
        <joint name="LHipYawPitch">
            <hardwareInterface>hardware_interface/EffortJointInterface</hardwareInterface>
        </joint>
        <actuator name="LHipYawPitch_motor">
            <hardwareInterface>hardware_interface/EffortJointInterface</hardwareInterface>
            <mechanicalReduction>1</mechanicalReduction>
        </actuator>
    </transmission>
    <transmission name="trans_LHipRoll">
        <type>transmission_interface/SimpleTransmission</type>
        <joint name="LHipRoll">
            <hardwareInterface>hardware_interface/EffortJointInterface</hardwareInterface>
        </joint>
        <actuator name="LHipRoll_motor">
            <hardwareInterface>hardware_interface/EffortJointInterface</hardwareInterface>
            <mechanicalReduction>1</mechanicalReduction>
        </actuator>
    </transmission>
    <transmission name="trans_LHipPitch">
        <type>transmission_interface/SimpleTransmission</type>
        <joint name="LHipPitch">
            <hardwareInterface>hardware_interface/EffortJointInterface</hardwareInterface>
        </joint>
        <actuator name="LHipPitch_motor">
            <hardwareInterface>hardware_interface/EffortJointInterface</hardwareInterface>
            <mechanicalReduction>1</mechanicalReduction>
        </actuator>
    </transmission>
    <transmission name="trans_LKneePitch">
        <type>transmission_interface/SimpleTransmission</type>
        <joint name="LKneePitch">
            <hardwareInterface>hardware_interface/EffortJointInterface</hardwareInterface>
        </joint>
        <actuator name="LKneePitch_motor">
            <hardwareInterface>hardware_interface/EffortJointInterface</hardwareInterface>
            <mechanicalReduction>1</mechanicalReduction>
        </actuator>
    </transmission>
    <transmission name="trans_LAnklePitch">
        <type>transmission_interface/SimpleTransmission</type>
        <joint name="LAnklePitch">
            <hardwareInterface>hardware_interface/EffortJointInterface</hardwareInterface>
        </joint>
        <actuator name="LAnklePitch_motor">
            <hardwareInterface>hardware_interface/EffortJointInterface</hardwareInterface>
            <mechanicalReduction>1</mechanicalReduction>
        </actuator>
    </transmission>
    <transmission name="trans_LAnkleRoll">
        <type>transmission_interface/SimpleTransmission</type>
        <joint name="LAnkleRoll">
            <hardwareInterface>hardware_interface/EffortJointInterface</hardwareInterface>
        </joint>
        <actuator name="LAnkleRoll_motor">
            <hardwareInterface>hardware_interface/EffortJointInterface</hardwareInterface>
            <mechanicalReduction>1</mechanicalReduction>
        </actuator>
    </transmission>
    
    <transmission name="trans_RHipYawPitch">
        <type>transmission_interface/SimpleTransmission</type>
        <joint name="RHipYawPitch">
            <hardwareInterface>hardware_interface/EffortJointInterface</hardwareInterface>
        </joint>
        <actuator name="RHipYawPitch_motor">
            <hardwareInterface>hardware_interface/EffortJointInterface</hardwareInterface>
            <mechanicalReduction>1</mechanicalReduction>
        </actuator>
    </transmission>
    <transmission name="trans_RHipRoll">
        <type>transmission_interface/SimpleTransmission</type>
        <joint name="RHipRoll">
            <hardwareInterface>hardware_interface/EffortJointInterface</hardwareInterface>
        </joint>
        <actuator name="RHipRoll_motor">
            <hardwareInterface>hardware_interface/EffortJointInterface</hardwareInterface>
            <mechanicalReduction>1</mechanicalReduction>
        </actuator>
    </transmission>
    <transmission name="trans_RHipPitch">
        <type>transmission_interface/SimpleTransmission</type>
        <joint name="RHipPitch">
            <hardwareInterface>hardware_interface/EffortJointInterface</hardwareInterface>
        </joint>
        <actuator name="RHipPitch_motor">
            <hardwareInterface>hardware_interface/EffortJointInterface</hardwareInterface>
            <mechanicalReduction>1</mechanicalReduction>
        </actuator>
    </transmission>
    <transmission name="trans_RKneePitch">
        <type>transmission_interface/SimpleTransmission</type>
        <joint name="RKneePitch">
            <hardwareInterface>hardware_interface/EffortJointInterface</hardwareInterface>
        </joint>
        <actuator name="RKneePitch_motor">
            <hardwareInterface>hardware_interface/EffortJointInterface</hardwareInterface>
            <mechanicalReduction>1</mechanicalReduction>
        </actuator>
    </transmission>
    <transmission name="trans_RAnklePitch">
        <type>transmission_interface/SimpleTransmission</type>
        <joint name="RAnklePitch">
            <hardwareInterface>hardware_interface/EffortJointInterface</hardwareInterface>
        </joint>
        <actuator name="RAnklePitch_motor">
            <hardwareInterface>hardware_interface/EffortJointInterface</hardwareInterface>
            <mechanicalReduction>1</mechanicalReduction>
        </actuator>
    </transmission>
    <transmission name="trans_RAnkleRoll">
        <type>transmission_interface/SimpleTransmission</type>
        <joint name="RAnkleRoll">
            <hardwareInterface>hardware_interface/EffortJointInterface</hardwareInterface>
        </joint>
        <actuator name="RAnkleRoll_motor">
            <hardwareInterface>hardware_interface/EffortJointInterface</hardwareInterface>
            <mechanicalReduction>1</mechanicalReduction>
        </actuator>
    </transmission>
    
    <transmission name="trans_LShoulderPitch">
        <type>transmission_interface/SimpleTransmission</type>
        <joint name="LShoulderPitch">
            <hardwareInterface>hardware_interface/EffortJointInterface</hardwareInterface>
        </joint>
        <actuator name="LShoulderPitch_motor">
            <hardwareInterface>hardware_interface/EffortJointInterface</hardwareInterface>
            <mechanicalReduction>1</mechanicalReduction>
        </actuator>
    </transmission>
    <transmission name="trans_LShoulderRoll">
        <type>transmission_interface/SimpleTransmission</type>
        <joint name="LShoulderRoll">
            <hardwareInterface>hardware_interface/EffortJointInterface</hardwareInterface>
        </joint>
        <actuator name="LShoulderRoll_motor">
            <hardwareInterface>hardware_interface/EffortJointInterface</hardwareInterface>
            <mechanicalReduction>1</mechanicalReduction>
        </actuator>
    </transmission>
    <transmission name="trans_LElbowYaw">
        <type>transmission_interface/SimpleTransmission</type>
        <joint name="LElbowYaw">
            <hardwareInterface>hardware_interface/EffortJointInterface</hardwareInterface>
        </joint>
        <actuator name="LElbowYaw_motor">
            <hardwareInterface>hardware_interface/EffortJointInterface</hardwareInterface>
            <mechanicalReduction>1</mechanicalReduction>
        </actuator>
    </transmission>
    <transmission name="trans_LElbowRoll">
        <type>transmission_interface/SimpleTransmission</type>
        <joint name="LElbowRoll">
            <hardwareInterface>hardware_interface/EffortJointInterface</hardwareInterface>
        </joint>
        <actuator name="LElbowRoll_motor">
            <hardwareInterface>hardware_interface/EffortJointInterface</hardwareInterface>
            <mechanicalReduction>1</mechanicalReduction>
        </actuator>
    </transmission>
    <transmission name="trans_LWristYaw">
        <type>transmission_interface/SimpleTransmission</type>
        <joint name="LWristYaw">
            <hardwareInterface>hardware_interface/EffortJointInterface</hardwareInterface>
        </joint>
        <actuator name="LWristYaw_motor">
            <hardwareInterface>hardware_interface/EffortJointInterface</hardwareInterface>
            <mechanicalReduction>1</mechanicalReduction>
        </actuator>
    </transmission>
    <transmission name="trans_LHand">
        <type>transmission_interface/SimpleTransmission</type>
        <joint name="LHand">
            <hardwareInterface>hardware_interface/EffortJointInterface</hardwareInterface>
        </joint>
        <actuator name="LHand_motor">
            <hardwareInterface>hardware_interface/EffortJointInterface</hardwareInterface>
            <mechanicalReduction>1</mechanicalReduction>
        </actuator>
    </transmission>
    <transmission name="trans_RShoulderPitch">
        <type>transmission_interface/SimpleTransmission</type>
        <joint name="RShoulderPitch">
            <hardwareInterface>hardware_interface/EffortJointInterface</hardwareInterface>
        </joint>
        <actuator name="RShoulderPitch_motor">
            <hardwareInterface>hardware_interface/EffortJointInterface</hardwareInterface>
            <mechanicalReduction>1</mechanicalReduction>
        </actuator>
    </transmission>
    <transmission name="trans_RShoulderRoll">
        <type>transmission_interface/SimpleTransmission</type>
        <joint name="RShoulderRoll">
            <hardwareInterface>hardware_interface/EffortJointInterface</hardwareInterface>
        </joint>
        <actuator name="RShoulderRoll_motor">
            <hardwareInterface>hardware_interface/EffortJointInterface</hardwareInterface>
            <mechanicalReduction>1</mechanicalReduction>
        </actuator>
    </transmission>
    <transmission name="trans_RElbowYaw">
        <type>transmission_interface/SimpleTransmission</type>
        <joint name="RElbowYaw">
            <hardwareInterface>hardware_interface/EffortJointInterface</hardwareInterface>
        </joint>
        <actuator name="RElbowYaw_motor">
            <hardwareInterface>hardware_interface/EffortJointInterface</hardwareInterface>
            <mechanicalReduction>1</mechanicalReduction>
        </actuator>
    </transmission>
    <transmission name="trans_RElbowRoll">
        <type>transmission_interface/SimpleTransmission</type>
        <joint name="RElbowRoll">
            <hardwareInterface>hardware_interface/EffortJointInterface</hardwareInterface>
        </joint>
        <actuator name="RElbowRoll_motor">
            <hardwareInterface>hardware_interface/EffortJointInterface</hardwareInterface>
            <mechanicalReduction>1</mechanicalReduction>
        </actuator>
    </transmission>
    <transmission name="trans_RWristYaw">
        <type>transmission_interface/SimpleTransmission</type>
        <joint name="RWristYaw">
            <hardwareInterface>hardware_interface/EffortJointInterface</hardwareInterface>
        </joint>
        <actuator name="RWristYaw_motor">
            <hardwareInterface>hardware_interface/EffortJointInterface</hardwareInterface>
            <mechanicalReduction>1</mechanicalReduction>
        </actuator>
    </transmission>
    <transmission name="trans_RHand">
        <type>transmission_interface/SimpleTransmission</type>
        <joint name="RHand">
            <hardwareInterface>hardware_interface/EffortJointInterface</hardwareInterface>
        </joint>
        <actuator name="RHand_motor">
            <hardwareInterface>hardware_interface/EffortJointInterface</hardwareInterface>
            <mechanicalReduction>1</mechanicalReduction>
        </actuator>
    </transmission>

    <transmission name="front_wheel_ll_joint_trans">
            <type>transmission_interface/SimpleTransmission</type>
            <joint name="front_left_wheel_joint_l">
                <hardwareInterface>hardware_interface/VelocityJointInterface</hardwareInterface>
            </joint>
            <actuator name="front_left_motor">
                <hardwareInterface>hardware_interface/VelocityJointInterface</hardwareInterface>
		<mechanicalReduction>36.24</mechanicalReduction>
            </actuator>
    	</transmission>

	<transmission name="front_wheel_lr_joint_trans">
            <type>transmission_interface/SimpleTransmission</type>
            <joint name="front_left_wheel_joint_r">
                <hardwareInterface>hardware_interface/VelocityJointInterface</hardwareInterface>
            </joint>
            <actuator name="front_left_motor">
                <hardwareInterface>hardware_interface/VelocityJointInterface</hardwareInterface>
		<mechanicalReduction>36.24</mechanicalReduction>
            </actuator>
    	</transmission>


	<transmission name="wheel_rl_joint_trans">
            <type>transmission_interface/SimpleTransmission</type>
            <joint name="right_wheel_joint_l">
                <hardwareInterface>hardware_interface/VelocityJointInterface</hardwareInterface>
            </joint>
            <actuator name="right_motor">
                <hardwareInterface>hardware_interface/VelocityJointInterface</hardwareInterface>
		<mechanicalReduction>36.24</mechanicalReduction>
            </actuator>
    	</transmission>

	<transmission name="wheel_rr_joint_trans">
            <type>transmission_interface/SimpleTransmission</type>
            <joint name="right_wheel_joint_r">
                <hardwareInterface>hardware_interface/VelocityJointInterface</hardwareInterface>
            </joint>
            <actuator name="right_motor">
                <hardwareInterface>hardware_interface/VelocityJointInterface</hardwareInterface>
		<mechanicalReduction>36.24</mechanicalReduction>
            </actuator>
   	 </transmission>

	<transmission name="front_wheel_rl_joint_trans">
            <type>transmission_interface/SimpleTransmission</type>
            <joint name="front_right_wheel_joint_l">
                <hardwareInterface>hardware_interface/VelocityJointInterface</hardwareInterface>
            </joint>
            <actuator name="front_right_motor">
                <hardwareInterface>hardware_interface/VelocityJointInterface</hardwareInterface>
		<mechanicalReduction>36.24</mechanicalReduction>
            </actuator>
    	</transmission>

	<transmission name="front_wheel_rr_joint_trans">
            <type>transmission_interface/SimpleTransmission</type>
            <joint name="front_right_wheel_joint_r">
                <hardwareInterface>hardware_interface/VelocityJointInterface</hardwareInterface>
            </joint>
            <actuator name="front_right_motor">
                <hardwareInterface>hardware_interface/VelocityJointInterface</hardwareInterface>
		<mechanicalReduction>36.24</mechanicalReduction>            
		</actuator>
   	 </transmission>
    <gazebo>
        <plugin name="gazebo_ros_control" filename="libgazebo_ros_control.so">
            <robotNamespace>/</robotNamespace>
        </plugin>
    </gazebo>
</robot>
